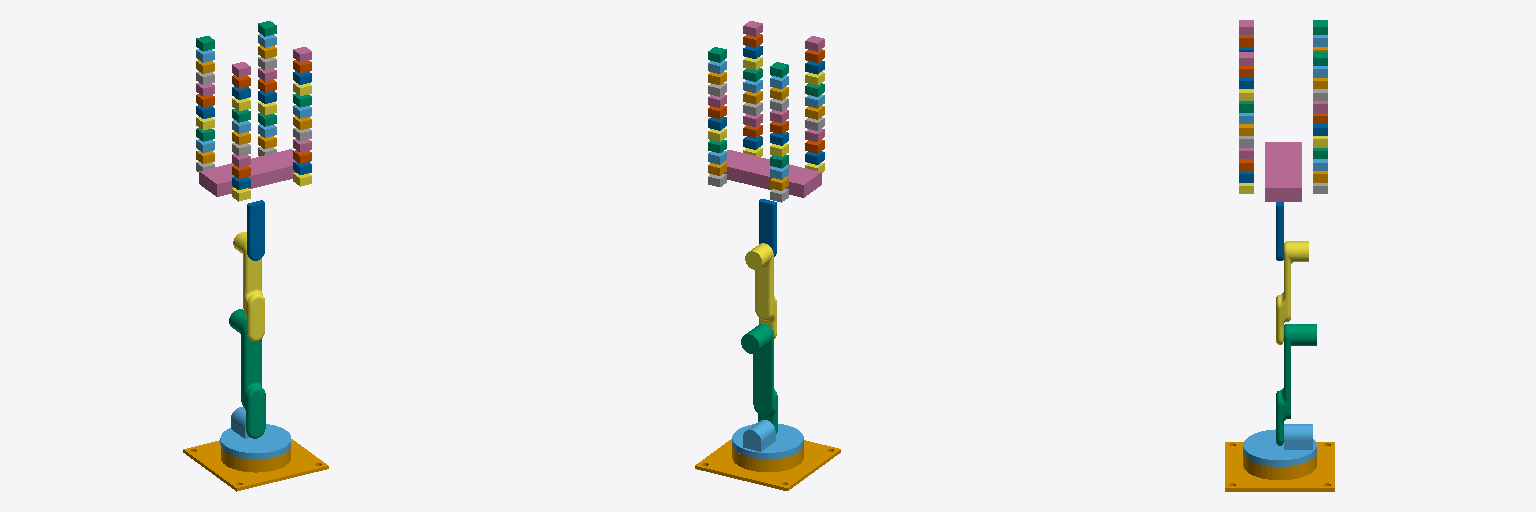
--- Facts derived from the render (not from the file) ---
3 views of the same robot in one strip: view 1: azimuth 30°, elevation 25°; view 2: azimuth 150°, elevation 25°; view 3: azimuth 270°, elevation 25° (orthographic).
Model Design with 55 links and 54 joints (51 revolute, 1 continuous, 2 fixed), rooted at world, posed every joint at zero.
Links seen in each view (by area): view 1: base_link, Link2_1, palm, Link1_1, Link3_1, Link4_1; view 2: base_link, Link2_1, palm, Link1_1, Link3_1, Link4_1; view 3: base_link, Link1_1, palm, Link2_1, Link3_1.
Boxes of the visible links, box(x1,y1,x2,y2) form: base_link: box(183, 439, 328, 491); Link2_1: box(229, 309, 265, 438); palm: box(199, 149, 295, 196); Link1_1: box(220, 407, 290, 459); Link3_1: box(233, 232, 264, 341); Link4_1: box(247, 200, 264, 260); base_link: box(695, 439, 840, 490); Link2_1: box(741, 324, 777, 433); palm: box(724, 150, 821, 197); Link1_1: box(732, 420, 803, 458); Link3_1: box(745, 243, 776, 338); Link4_1: box(759, 199, 776, 256); base_link: box(1225, 442, 1334, 491); Link1_1: box(1243, 424, 1316, 466); palm: box(1265, 142, 1301, 201); Link2_1: box(1276, 324, 1316, 445); Link3_1: box(1276, 241, 1308, 344).
Size in the robot's own frame: 0.15 by 0.15 by 0.6438 metres.
Meshes: 5 distinct files referenced, 5 mesh visuals loaded (5 binary STL).

URDF robot description (Design):
<?xml version="1.0" encoding="utf-8"?>
<!-- =================================================================================== -->
<!-- |    This document was autogenerated by xacro from [local-path]/catkin_ws/src/Soft-Arm-Main/urdf/output.xacro | -->
<!-- |    EDITING THIS FILE BY HAND IS NOT RECOMMENDED                                 | -->
<!-- =================================================================================== -->
<robot name="Design">
  <!--<xacro:include filename="$(find gripper_description)/urdf/materials.xacro" />-->
  <!--<xacro:include filename="$(find gripper_description)/urdf/Design.gazebo" />-->
  <!-- see https://secure.wikimedia.org/wikipedia/en/wiki/List_of_moment_of_inertia_tensors -->
  <!--<xacro:include filename="$(find version1_description)/urdf/materials.xacro" />
<xacro:include filename="$(find version1_description)/urdf/Design.gazebo" /> -->
  <transmission name="Rev1_tran">
    <type>transmission_interface/SimpleTransmission</type>
    <joint name="Rev1">
      <hardwareInterface>hardware_interface/EffortJointInterface</hardwareInterface>
    </joint>
    <actuator name="Rev1_actr">
      <mechanicalReduction>1</mechanicalReduction>
    </actuator>
  </transmission>
  <transmission name="Rev2_tran">
    <type>transmission_interface/SimpleTransmission</type>
    <joint name="Rev2">
      <hardwareInterface>hardware_interface/EffortJointInterface</hardwareInterface>
    </joint>
    <actuator name="Rev2_actr">
      <mechanicalReduction>1</mechanicalReduction>
    </actuator>
  </transmission>
  <transmission name="Rev3_tran">
    <type>transmission_interface/SimpleTransmission</type>
    <joint name="Rev3">
      <hardwareInterface>hardware_interface/EffortJointInterface</hardwareInterface>
    </joint>
    <actuator name="Rev3_actr">
      <mechanicalReduction>1</mechanicalReduction>
    </actuator>
  </transmission>
  <transmission name="Rev4_tran">
    <type>transmission_interface/SimpleTransmission</type>
    <joint name="Rev4">
      <hardwareInterface>hardware_interface/EffortJointInterface</hardwareInterface>
    </joint>
    <actuator name="Rev4_actr">
      <mechanicalReduction>1</mechanicalReduction>
    </actuator>
  </transmission>
  <!--  PROPERTIES  -->
  <!-- LINKS  -->
  <!--<xacro:include filename="$(find design2_description)/urdf/materials.xacro" />-->
  <!--<xacro:include filename="$(find design2_description)/urdf/design2.trans" />-->
  <!--<xacro:include filename="$(find design2_description)/urdf/design2.gazebo" />-->
  <link name="base_link">
    <inertial>
      <origin rpy="0 0 0" xyz="-3.054172551678278e-15 2.5451437930652316e-17 0.009826233848161996"/>
      <mass value="2.1038693653686527"/>
      <inertia ixx="0.002498" ixy="0.0" ixz="-0.0" iyy="0.002498" iyz="0.0" izz="0.004751"/>
    </inertial>
    <visual>
      <origin rpy="0 0 0" xyz="0 0 0"/>
      <geometry>
        <mesh filename="package://main_description/meshes/base_link.stl" scale="0.001 0.001 0.001"/>
      </geometry>
      <material name="silver"/>
    </visual>
    <collision>
      <origin rpy="0 0 0" xyz="0 0 0"/>
      <geometry>
        <mesh filename="package://main_description/meshes/base_link.stl" scale="0.001 0.001 0.001"/>
      </geometry>
    </collision>
  </link>
  <link name="Link1_1">
    <inertial>
      <origin rpy="0 0 0" xyz="-6.1328821587432384e-06 0.007231132282278709 0.010400791755463774"/>
      <mass value="0.8688143187550561"/>
      <inertia ixx="0.000613" ixy="0.0" ixz="0.0" iyy="0.000486" iyz="-8.3e-05" izz="0.000932"/>
    </inertial>
    <visual>
      <origin rpy="0 0 0" xyz="-0.0 -0.0 -0.025"/>
      <geometry>
        <mesh filename="package://main_description/meshes/Link1_1.stl" scale="0.001 0.001 0.001"/>
      </geometry>
      <material name="silver"/>
    </visual>
    <collision>
      <origin rpy="0 0 0" xyz="-0.0 -0.0 -0.025"/>
      <geometry>
        <mesh filename="package://main_description/meshes/Link1_1.stl" scale="0.001 0.001 0.001"/>
      </geometry>
    </collision>
  </link>
  <link name="Link2_1">
    <inertial>
      <origin rpy="0 0 0" xyz="-1.4589717024326475e-07 0.009220625083884316 0.09374198522195988"/>
      <mass value="0.6628237762897414"/>
      <inertia ixx="0.002038" ixy="0.0" ixz="0.0" iyy="0.001955" iyz="-0.000356" izz="0.000168"/>
    </inertial>
    <visual>
      <origin rpy="0 0 0" xyz="2.1e-05 -0.004903 -0.05"/>
      <geometry>
        <mesh filename="package://main_description/meshes/Link2_1.stl" scale="0.001 0.001 0.001"/>
      </geometry>
      <material name="silver"/>
    </visual>
    <collision>
      <origin rpy="0 0 0" xyz="2.1e-05 -0.004903 -0.05"/>
      <geometry>
        <mesh filename="package://main_description/meshes/Link2_1.stl" scale="0.001 0.001 0.001"/>
      </geometry>
    </collision>
  </link>
  <link name="Link3_1">
    <inertial>
      <origin rpy="0 0 0" xyz="1.9618427109714154e-05 0.006527757535011174 0.07498286609368165"/>
      <mass value="0.4910812167638009"/>
      <inertia ixx="0.001039" ixy="-0.0" ixz="-0.0" iyy="0.001007" iyz="-0.000178" izz="8.5e-05"/>
    </inertial>
    <visual>
      <origin rpy="0 0 0" xyz="2.1e-05 -0.004903 -0.2"/>
      <geometry>
        <mesh filename="package://main_description/meshes/Link3_1.stl" scale="0.001 0.001 0.001"/>
      </geometry>
      <material name="silver"/>
    </visual>
    <collision>
      <origin rpy="0 0 0" xyz="2.1e-05 -0.004903 -0.2"/>
      <geometry>
        <mesh filename="package://main_description/meshes/Link3_1.stl" scale="0.001 0.001 0.001"/>
      </geometry>
    </collision>
  </link>
  <link name="Link4_1">
    <inertial>
      <origin rpy="0 0 0" xyz="-1.842082955655732e-07 -0.004999749873264598 0.032486936025046875"/>
      <mass value="0.16819090005804693"/>
      <inertia ixx="0.000103" ixy="0.0" ixz="0.0" iyy="0.00011" iyz="0.0" izz="1e-05"/>
    </inertial>
    <visual>
      <origin rpy="0 0 0" xyz="-1.2e-05 -0.004903 -0.325"/>
      <geometry>
        <mesh filename="package://main_description/meshes/Link4_1.stl" scale="0.001 0.001 0.001"/>
      </geometry>
      <material name="silver"/>
    </visual>
    <collision>
      <origin rpy="0 0 0" xyz="-1.2e-05 -0.004903 -0.325"/>
      <geometry>
        <mesh filename="package://main_description/meshes/Link4_1.stl" scale="0.001 0.001 0.001"/>
      </geometry>
    </collision>
  </link>
  <!--  JOINTS  -->
  <joint name="world_joint" type="fixed">
    <axis xyz="0 0 1"/>
    <origin rpy="0 0 0" xyz="0.0 0.0 0.0"/>
    <parent link="world"/>
    <child link="base_link"/>
  </joint>
  <joint name="Rev1" type="continuous">
    <origin rpy="0 0 0" xyz="0.0 0.0 0.025"/>
    <parent link="base_link"/>
    <child link="Link1_1"/>
    <axis xyz="0.0 0.0 1.0"/>
    <limit effort="1000" lower="0.0" upper="6.283185" velocity="0.01"/>
    <dynamics damping="0" friction="0.0"/>
  </joint>
  <joint name="Rev2" type="revolute">
    <origin rpy="0 0 0" xyz="-2.1e-05 0.004903 0.025"/>
    <parent link="Link1_1"/>
    <child link="Link2_1"/>
    <axis xyz="0.0 -1.0 0.0"/>
    <limit effort="1000" lower="-1.396263" upper="1.396263" velocity="0.01"/>
    <dynamics damping="0" friction="0.0"/>
  </joint>
  <joint name="Rev3" type="revolute">
    <origin rpy="0 0 0" xyz="0.0 0.0 0.15"/>
    <parent link="Link2_1"/>
    <child link="Link3_1"/>
    <axis xyz="0.0 -1.0 0.0"/>
    <limit effort="1000" lower="-2.792527" upper="2.792527" velocity="0.01"/>
    <dynamics damping="0" friction="0.0"/>
  </joint>
  <joint name="Rev4" type="revolute">
    <origin rpy="0 0 0" xyz="3.3e-05 0.0 0.125"/>
    <parent link="Link3_1"/>
    <child link="Link4_1"/>
    <axis xyz="0.0 -1.0 0.0"/>
    <limit effort="1000" lower="-2.617994" upper="2.617994" velocity="0.01"/>
    <dynamics damping="0" friction="0.0"/>
  </joint>
  <link name="world"/>
  <link name="palm">
    <visual>
      <geometry>
        <box size="0.15 0.05 0.02"/>
      </geometry>
    </visual>
    <inertial>
      <mass value="0.1"/>
      <inertia ixx="0.001" ixy="0.001" ixz="0.001" iyy="0.001" iyz="0.001" izz="0.001"/>
    </inertial>
    <collision>
      <geometry>
        <box size="0.15 0.05 0.02"/>
      </geometry>
    </collision>
  </link>
  <gazebo reference="palm">
    <mu1>2000</mu1>
    <mu2>2000</mu2>
    <selfCollide>true</selfCollide>
    <gravity>true</gravity>
  </gazebo>
  <joint name="palm_arm_joint" type="fixed">
    <parent link="Link4_1"/>
    <child link="palm"/>
    <origin rpy="0 0 0" xyz="0.0 0 0.12"/>
  </joint>
  <gazebo>
    <plugin filename="libgazebo_ros_control.so" name="gazebo_ros_control">
      <robotNamespace/>
    </plugin>
  </gazebo>
  <!--  MACROS FOR FINGER: LT-->
  <link name="LTseg1">
    <visual>
      <geometry>
        <box size="0.02 0.02 0.0125"/>
      </geometry>
      <origin xyz="0 0 0"/>
      <material name="white"/>
    </visual>
    <inertial>
      <mass value="0.01"/>
      <origin rpy="0 0 0" xyz="0 0 0"/>
      <inertia ixx="4.6354148125e-07" ixy="0.0" ixz="0.0" iyy="4.6354148125e-07" iyz="0.0" izz="6.666664e-07"/>
    </inertial>
    <!--
		<inertial>
			<mass value="0.001"/>
			<inertia ixx="0.000000001" ixy="0.000000001" ixz="0.000000001" iyy="0.000000001" iyz="0.000000001" izz="0.000000001"/>
		</inertial>
		-->
    <collision>
      <geometry>
        <box size="0.02 0.02 0.0125"/>
      </geometry>
      <origin xyz="0 0 0"/>
    </collision>
  </link>
  <gazebo reference="LTseg1">
    <mu1>20000</mu1>
    <mu2>20000</mu2>
    <selfCollide>true</selfCollide>
    <gravity>true</gravity>
  </gazebo>
  <joint name="palm_LTseg1_joint" type="revolute">
    <axis xyz="1 0 0"/>
    <limit effort="1" lower="-0.1" upper="0.1" velocity="0.0001"/>
    <!--<dynamics damping="0.05" friction="0.0"/>-->
    <origin rpy="-0 0 0" xyz="0.05 0.05 0"/>
    <parent link="palm"/>
    <child link="LTseg1"/>
  </joint>
  <transmission name="palm_LTseg1_trans">
    <type>transmission_interface/SimpleTransmission</type>
    <actuator name="palm_LTseg1_motor">
      <mechanicalReduction>1</mechanicalReduction>
    </actuator>
    <joint name="palm_LTseg1_joint">
      <hardwareInterface>hardware_interface/EffortJointInterface</hardwareInterface>
    </joint>
  </transmission>
  <gazebo reference="palm_LTseg1_joint">
    <mu1 value="200.0"/>
    <mu2 value="100.0"/>
    <kp value="10000000.0"/>
    <kd value="1.0"/>
    <material>Gazebo/Grey</material>
  </gazebo>
  <link name="LTseg2">
    <visual>
      <geometry>
        <box size="0.02 0.02 0.0125"/>
      </geometry>
      <origin xyz="0 0 0"/>
      <material name="white"/>
    </visual>
    <inertial>
      <mass value="0.01"/>
      <origin rpy="0 0 0" xyz="0 0 0"/>
      <inertia ixx="4.6354148125e-07" ixy="0.0" ixz="0.0" iyy="4.6354148125e-07" iyz="0.0" izz="6.666664e-07"/>
    </inertial>
    <!--
		<inertial>
			<mass value="0.001"/>
			<inertia ixx="0.000000001" ixy="0.000000001" ixz="0.000000001" iyy="0.000000001" iyz="0.000000001" izz="0.000000001"/>
		</inertial>
		-->
    <collision>
      <geometry>
        <box size="0.02 0.02 0.0125"/>
      </geometry>
      <origin xyz="0 0 0"/>
    </collision>
  </link>
  <gazebo reference="LTseg2">
    <mu1>20000</mu1>
    <mu2>20000</mu2>
    <selfCollide>true</selfCollide>
    <gravity>true</gravity>
  </gazebo>
  <joint name="LTseg1_LTseg2_joint" type="revolute">
    <axis xyz="1 0 0"/>
    <limit effort="1" lower="-0.25" upper="0.25" velocity="0.001"/>
    <dynamics damping="0.05" friction="0.0"/>
    <origin rpy="0 0 0" xyz="0 0 0.0175"/>
    <parent link="LTseg1"/>
    <child link="LTseg2"/>
  </joint>
  <gazebo reference="LTseg1_LTseg2_joint">
    <implicitSpringDamper>True</implicitSpringDamper>
  </gazebo>
  <transmission name="LTseg1_LTseg2_trans">
    <type>transmission_interface/SimpleTransmission</type>
    <actuator name="LTseg1_LTseg2_motor">
      <mechanicalReduction>1</mechanicalReduction>
    </actuator>
    <joint name="LTseg1_LTseg2_joint">
      <hardwareInterface>hardware_interface/EffortJointInterface</hardwareInterface>
    </joint>
  </transmission>
  <gazebo reference="LTseg1_LTseg2_joint">
    <mu1 value="200.0"/>
    <mu2 value="100.0"/>
    <kp value="10000000.0"/>
    <kd value="1.0"/>
    <material>Gazebo/Grey</material>
  </gazebo>
  <link name="LTseg3">
    <visual>
      <geometry>
        <box size="0.02 0.02 0.0125"/>
      </geometry>
      <origin xyz="0 0 0"/>
      <material name="white"/>
    </visual>
    <inertial>
      <mass value="0.01"/>
      <origin rpy="0 0 0" xyz="0 0 0"/>
      <inertia ixx="4.6354148125e-07" ixy="0.0" ixz="0.0" iyy="4.6354148125e-07" iyz="0.0" izz="6.666664e-07"/>
    </inertial>
    <!--
		<inertial>
			<mass value="0.001"/>
			<inertia ixx="0.000000001" ixy="0.000000001" ixz="0.000000001" iyy="0.000000001" iyz="0.000000001" izz="0.000000001"/>
		</inertial>
		-->
    <collision>
      <geometry>
        <box size="0.02 0.02 0.0125"/>
      </geometry>
      <origin xyz="0 0 0"/>
    </collision>
  </link>
  <gazebo reference="LTseg3">
    <mu1>20000</mu1>
    <mu2>20000</mu2>
    <selfCollide>true</selfCollide>
    <gravity>true</gravity>
  </gazebo>
  <joint name="LTseg2_LTseg3_joint" type="revolute">
    <axis xyz="1 0 0"/>
    <limit effort="1" lower="-0.25" upper="0.25" velocity="0.001"/>
    <dynamics damping="0.05" friction="0.0"/>
    <origin rpy="0 0 0" xyz="0 0 0.0175"/>
    <parent link="LTseg2"/>
    <child link="LTseg3"/>
  </joint>
  <gazebo reference="LTseg2_LTseg3_joint">
    <implicitSpringDamper>True</implicitSpringDamper>
  </gazebo>
  <transmission name="LTseg2_LTseg3_trans">
    <type>transmission_interface/SimpleTransmission</type>
    <actuator name="LTseg2_LTseg3_motor">
      <mechanicalReduction>1</mechanicalReduction>
    </actuator>
    <joint name="LTseg2_LTseg3_joint">
      <hardwareInterface>hardware_interface/EffortJointInterface</hardwareInterface>
    </joint>
  </transmission>
  <gazebo reference="LTseg2_LTseg3_joint">
    <mu1 value="200.0"/>
    <mu2 value="100.0"/>
    <kp value="10000000.0"/>
    <kd value="1.0"/>
    <material>Gazebo/Grey</material>
  </gazebo>
  <link name="LTseg4">
    <visual>
      <geometry>
        <box size="0.02 0.02 0.0125"/>
      </geometry>
      <origin xyz="0 0 0"/>
      <material name="white"/>
    </visual>
    <inertial>
      <mass value="0.01"/>
      <origin rpy="0 0 0" xyz="0 0 0"/>
      <inertia ixx="4.6354148125e-07" ixy="0.0" ixz="0.0" iyy="4.6354148125e-07" iyz="0.0" izz="6.666664e-07"/>
    </inertial>
    <!--
		<inertial>
			<mass value="0.001"/>
			<inertia ixx="0.000000001" ixy="0.000000001" ixz="0.000000001" iyy="0.000000001" iyz="0.000000001" izz="0.000000001"/>
		</inertial>
		-->
    <collision>
      <geometry>
        <box size="0.02 0.02 0.0125"/>
      </geometry>
      <origin xyz="0 0 0"/>
    </collision>
  </link>
  <gazebo reference="LTseg4">
    <mu1>20000</mu1>
    <mu2>20000</mu2>
    <selfCollide>true</selfCollide>
    <gravity>true</gravity>
  </gazebo>
  <joint name="LTseg3_LTseg4_joint" type="revolute">
    <axis xyz="1 0 0"/>
    <limit effort="1" lower="-0.25" upper="0.25" velocity="0.001"/>
    <dynamics damping="0.05" friction="0.0"/>
    <origin rpy="0 0 0" xyz="0 0 0.0175"/>
    <parent link="LTseg3"/>
    <child link="LTseg4"/>
  </joint>
  <gazebo reference="LTseg3_LTseg4_joint">
    <implicitSpringDamper>True</implicitSpringDamper>
  </gazebo>
  <transmission name="LTseg3_LTseg4_trans">
    <type>transmission_interface/SimpleTransmission</type>
    <actuator name="LTseg3_LTseg4_motor">
      <mechanicalReduction>1</mechanicalReduction>
    </actuator>
    <joint name="LTseg3_LTseg4_joint">
      <hardwareInterface>hardware_interface/EffortJointInterface</hardwareInterface>
    </joint>
  </transmission>
  <gazebo reference="LTseg3_LTseg4_joint">
    <mu1 value="200.0"/>
    <mu2 value="100.0"/>
    <kp value="10000000.0"/>
    <kd value="1.0"/>
    <material>Gazebo/Grey</material>
  </gazebo>
  <link name="LTseg5">
    <visual>
      <geometry>
        <box size="0.02 0.02 0.0125"/>
      </geometry>
      <origin xyz="0 0 0"/>
      <material name="white"/>
    </visual>
    <inertial>
      <mass value="0.01"/>
      <origin rpy="0 0 0" xyz="0 0 0"/>
      <inertia ixx="4.6354148125e-07" ixy="0.0" ixz="0.0" iyy="4.6354148125e-07" iyz="0.0" izz="6.666664e-07"/>
    </inertial>
    <!--
		<inertial>
			<mass value="0.001"/>
			<inertia ixx="0.000000001" ixy="0.000000001" ixz="0.000000001" iyy="0.000000001" iyz="0.000000001" izz="0.000000001"/>
		</inertial>
		-->
    <collision>
      <geometry>
        <box size="0.02 0.02 0.0125"/>
      </geometry>
      <origin xyz="0 0 0"/>
    </collision>
  </link>
  <gazebo reference="LTseg5">
    <mu1>20000</mu1>
    <mu2>20000</mu2>
    <selfCollide>true</selfCollide>
    <gravity>true</gravity>
  </gazebo>
  <joint name="LTseg4_LTseg5_joint" type="revolute">
    <axis xyz="1 0 0"/>
    <limit effort="1" lower="-0.25" upper="0.25" velocity="0.001"/>
    <dynamics damping="0.05" friction="0.0"/>
    <origin rpy="0 0 0" xyz="0 0 0.0175"/>
    <parent link="LTseg4"/>
    <child link="LTseg5"/>
  </joint>
  <gazebo reference="LTseg4_LTseg5_joint">
    <implicitSpringDamper>True</implicitSpringDamper>
  </gazebo>
  <transmission name="LTseg4_LTseg5_trans">
    <type>transmission_interface/SimpleTransmission</type>
    <actuator name="LTseg4_LTseg5_motor">
      <mechanicalReduction>1</mechanicalReduction>
    </actuator>
    <joint name="LTseg4_LTseg5_joint">
      <hardwareInterface>hardware_interface/EffortJointInterface</hardwareInterface>
    </joint>
  </transmission>
  <gazebo reference="LTseg4_LTseg5_joint">
    <mu1 value="200.0"/>
    <mu2 value="100.0"/>
    <kp value="10000000.0"/>
    <kd value="1.0"/>
    <material>Gazebo/Grey</material>
  </gazebo>
  <link name="LTseg6">
    <visual>
      <geometry>
        <box size="0.02 0.02 0.0125"/>
      </geometry>
      <origin xyz="0 0 0"/>
      <material name="white"/>
    </visual>
    <inertial>
      <mass value="0.01"/>
      <origin rpy="0 0 0" xyz="0 0 0"/>
      <inertia ixx="4.6354148125e-07" ixy="0.0" ixz="0.0" iyy="4.6354148125e-07" iyz="0.0" izz="6.666664e-07"/>
    </inertial>
    <!--
		<inertial>
			<mass value="0.001"/>
			<inertia ixx="0.000000001" ixy="0.000000001" ixz="0.000000001" iyy="0.000000001" iyz="0.000000001" izz="0.000000001"/>
		</inertial>
		-->
    <collision>
      <geometry>
        <box size="0.02 0.02 0.0125"/>
      </geometry>
      <origin xyz="0 0 0"/>
    </collision>
  </link>
  <gazebo reference="LTseg6">
    <mu1>20000</mu1>
    <mu2>20000</mu2>
    <selfCollide>true</selfCollide>
    <gravity>true</gravity>
  </gazebo>
  <joint name="LTseg5_LTseg6_joint" type="revolute">
    <axis xyz="1 0 0"/>
    <limit effort="1" lower="-0.25" upper="0.25" velocity="0.001"/>
    <dynamics damping="0.05" friction="0.0"/>
    <origin rpy="0 0 0" xyz="0 0 0.0175"/>
    <parent link="LTseg5"/>
    <child link="LTseg6"/>
  </joint>
  <gazebo reference="LTseg5_LTseg6_joint">
    <implicitSpringDamper>True</implicitSpringDamper>
  </gazebo>
  <transmission name="LTseg5_LTseg6_trans">
    <type>transmission_interface/SimpleTransmission</type>
    <actuator name="LTseg5_LTseg6_motor">
      <mechanicalReduction>1</mechanicalReduction>
    </actuator>
    <joint name="LTseg5_LTseg6_joint">
      <hardwareInterface>hardware_interface/EffortJointInterface</hardwareInterface>
    </joint>
  </transmission>
  <gazebo reference="LTseg5_LTseg6_joint">
    <mu1 value="200.0"/>
    <mu2 value="100.0"/>
    <kp value="10000000.0"/>
    <kd value="1.0"/>
    <material>Gazebo/Grey</material>
  </gazebo>
  <link name="LTseg7">
    <visual>
      <geometry>
        <box size="0.02 0.02 0.0125"/>
      </geometry>
      <origin xyz="0 0 0"/>
      <material name="white"/>
    </visual>
    <inertial>
      <mass value="0.01"/>
      <origin rpy="0 0 0" xyz="0 0 0"/>
      <inertia ixx="4.6354148125e-07" ixy="0.0" ixz="0.0" iyy="4.6354148125e-07" iyz="0.0" izz="6.666664e-07"/>
    </inertial>
    <!--
		<inertial>
			<mass value="0.001"/>
			<inertia ixx="0.000000001" ixy="0.000000001" ixz="0.000000001" iyy="0.000000001" iyz="0.000000001" izz="0.000000001"/>
		</inertial>
		-->
    <collision>
      <geometry>
        <box size="0.02 0.02 0.0125"/>
      </geometry>
      <origin xyz="0 0 0"/>
    </collision>
  </link>
  <gazebo reference="LTseg7">
    <mu1>20000</mu1>
    <mu2>20000</mu2>
    <selfCollide>true</selfCollide>
    <gravity>true</gravity>
  </gazebo>
  <joint name="LTseg6_LTseg7_joint" type="revolute">
    <axis xyz="1 0 0"/>
    <limit effort="1" lower="-0.25" upper="0.25" velocity="0.001"/>
    <dynamics damping="0.05" friction="0.0"/>
    <origin rpy="0 0 0" xyz="0 0 0.0175"/>
    <parent link="LTseg6"/>
    <child link="LTseg7"/>
  </joint>
  <gazebo reference="LTseg6_LTseg7_joint">
    <implicitSpringDamper>True</implicitSpringDamper>
  </gazebo>
  <transmission name="LTseg6_LTseg7_trans">
    <type>transmission_interface/SimpleTransmission</type>
    <actuator name="LTseg6_LTseg7_motor">
      <mechanicalReduction>1</mechanicalReduction>
    </actuator>
    <joint name="LTseg6_LTseg7_joint">
      <hardwareInterface>hardware_interface/EffortJointInterface</hardwareInterface>
    </joint>
  </transmission>
  <gazebo reference="LTseg6_LTseg7_joint">
    <mu1 value="200.0"/>
    <mu2 value="100.0"/>
    <kp value="10000000.0"/>
    <kd value="1.0"/>
    <material>Gazebo/Grey</material>
  </gazebo>
  <link name="LTseg8">
    <visual>
      <geometry>
        <box size="0.02 0.02 0.0125"/>
      </geometry>
      <origin xyz="0 0 0"/>
      <material name="white"/>
    </visual>
    <inertial>
      <mass value="0.01"/>
      <origin rpy="0 0 0" xyz="0 0 0"/>
      <inertia ixx="4.6354148125e-07" ixy="0.0" ixz="0.0" iyy="4.6354148125e-07" iyz="0.0" izz="6.666664e-07"/>
    </inertial>
    <!--
		<inertial>
			<mass value="0.001"/>
			<inertia ixx="0.000000001" ixy="0.000000001" ixz="0.000000001" iyy="0.000000001" iyz="0.000000001" izz="0.000000001"/>
		</inertial>
		-->
    <collision>
      <geometry>
        <box size="0.02 0.02 0.0125"/>
      </geometry>
      <origin xyz="0 0 0"/>
    </collision>
  </link>
  <gazebo reference="LTseg8">
    <mu1>20000</mu1>
    <mu2>20000</mu2>
    <selfCollide>true</selfCollide>
    <gravity>true</gravity>
  </gazebo>
  <joint name="LTseg7_LTseg8_joint" type="revolute">
    <axis xyz="1 0 0"/>
    <limit effort="1" lower="-0.25" upper="0.25" velocity="0.001"/>
    <dynamics damping="0.05" friction="0.0"/>
    <origin rpy="0 0 0" xyz="0 0 0.0175"/>
    <parent link="LTseg7"/>
    <child link="LTseg8"/>
  </joint>
  <gazebo reference="LTseg7_LTseg8_joint">
    <implicitSpringDamper>True</implicitSpringDamper>
  </gazebo>
  <transmission name="LTseg7_LTseg8_trans">
    <type>transmission_interface/SimpleTransmission</type>
    <actuator name="LTseg7_LTseg8_motor">
      <mechanicalReduction>1</mechanicalReduction>
    </actuator>
    <joint name="LTseg7_LTseg8_joint">
      <hardwareInterface>hardware_interface/EffortJointInterface</hardwareInterface>
    </joint>
  </transmission>
  <gazebo reference="LTseg7_LTseg8_joint">
    <mu1 value="200.0"/>
    <mu2 value="100.0"/>
    <kp value="10000000.0"/>
    <kd value="1.0"/>
    <material>Gazebo/Grey</material>
  </gazebo>
  <link name="LTseg9">
    <visual>
      <geometry>
        <box size="0.02 0.02 0.0125"/>
      </geometry>
      <origin xyz="0 0 0"/>
      <material name="white"/>
    </visual>
    <inertial>
      <mass value="0.01"/>
      <origin rpy="0 0 0" xyz="0 0 0"/>
      <inertia ixx="4.6354148125e-07" ixy="0.0" ixz="0.0" iyy="4.6354148125e-07" iyz="0.0" izz="6.666664e-07"/>
    </inertial>
    <!--
		<inertial>
			<mass value="0.001"/>
			<inertia ixx="0.000000001" ixy="0.000000001" ixz="0.000000001" iyy="0.000000001" iyz="0.000000001" izz="0.000000001"/>
		</inertial>
		-->
    <collision>
      <geometry>
        <box size="0.02 0.02 0.0125"/>
      </geometry>
      <origin xyz="0 0 0"/>
    </collision>
  </link>
  <gazebo reference="LTseg9">
    <mu1>20000</mu1>
    <mu2>20000</mu2>
    <selfCollide>true</selfCollide>
    <gravity>true</gravity>
  </gazebo>
  <joint name="LTseg8_LTseg9_joint" type="revolute">
    <axis xyz="1 0 0"/>
    <limit effort="1" lower="-0.25" upper="0.25" velocity="0.001"/>
    <dynamics damping="0.05" friction="0.0"/>
    <origin rpy="0 0 0" xyz="0 0 0.0175"/>
    <parent link="LTseg8"/>
    <child link="LTseg9"/>
  </joint>
  <gazebo reference="LTseg8_LTseg9_joint">
    <implicitSpringDamper>True</implicitSpringDamper>
  </gazebo>
  <transmission name="LTseg8_LTseg9_trans">
    <type>transmission_interface/SimpleTransmission</type>
    <actuator name="LTseg8_LTseg9_motor">
      <mechanicalReduction>1</mechanicalReduction>
    </actuator>
    <joint name="LTseg8_LTseg9_joint">
      <hardwareInterface>hardware_interface/EffortJointInterface</hardwareInterface>
    </joint>
  </transmission>
  <gazebo reference="LTseg8_LTseg9_joint">
    <mu1 value="200.0"/>
    <mu2 value="100.0"/>
    <kp value="10000000.0"/>
    <kd value="1.0"/>
    <material>Gazebo/Grey</material>
  </gazebo>
  <link name="LTseg10">
    <visual>
      <geometry>
        <box size="0.02 0.02 0.0125"/>
      </geometry>
      <origin xyz="0 0 0"/>
      <material name="white"/>
    </visual>
    <inertial>
      <mass value="0.01"/>
      <origin rpy="0 0 0" xyz="0 0 0"/>
      <inertia ixx="4.6354148125e-07" ixy="0.0" ixz="0.0" iyy="4.6354148125e-07" iyz="0.0" izz="6.666664e-07"/>
    </inertial>
    <!--
		<inertial>
			<mass value="0.001"/>
			<inertia ixx="0.000000001" ixy="0.000000001" ixz="0.000000001" iyy="0.000000001" iyz="0.000000001" izz="0.000000001"/>
		</inertial>
		-->
    <collision>
      <geometry>
        <box size="0.02 0.02 0.0125"/>
      </geometry>
      <origin xyz="0 0 0"/>
    </collision>
  </link>
  <gazebo reference="LTseg10">
    <mu1>20000</mu1>
    <mu2>20000</mu2>
    <selfCollide>true</selfCollide>
    <gravity>true</gravity>
  </gazebo>
  <joint name="LTseg9_LTseg10_joint" type="revolute">
    <axis xyz="1 0 0"/>
    <limit effort="1" lower="-0.25" upper="0.25" velocity="0.001"/>
    <dynamics damping="0.05" friction="0.0"/>
    <origin rpy="0 0 0" xyz="0 0 0.0175"/>
    <parent link="LTseg9"/>
    <child link="LTseg10"/>
  </joint>
  <gazebo reference="LTseg9_LTseg10_joint">
    <implicitSpringDamper>True</implicitSpringDamper>
  </gazebo>
  <transmission name="LTseg9_LTseg10_trans">
    <type>transmission_interface/SimpleTransmission</type>
    <actuator name="LTseg9_LTseg10_motor">
      <mechanicalReduction>1</mechanicalReduction>
    </actuator>
    <joint name="LTseg9_LTseg10_joint">
      <hardwareInterface>hardware_interface/EffortJointInterface</hardwareInterface>
    </joint>
  </transmission>
  <gazebo reference="LTseg9_LTseg10_joint">
    <mu1 value="200.0"/>
    <mu2 value="100.0"/>
    <kp value="10000000.0"/>
    <kd value="1.0"/>
    <material>Gazebo/Grey</material>
  </gazebo>
  <link name="LTseg11">
    <visual>
      <geometry>
        <box size="0.02 0.02 0.0125"/>
      </geometry>
      <origin xyz="0 0 0"/>
      <material name="white"/>
    </visual>
    <inertial>
      <mass value="0.01"/>
      <origin rpy="0 0 0" xyz="0 0 0"/>
      <inertia ixx="4.6354148125e-07" ixy="0.0" ixz="0.0" iyy="4.6354148125e-07" iyz="0.0" izz="6.666664e-07"/>
    </inertial>
    <!--
		<inertial>
			<mass value="0.001"/>
			<inertia ixx="0.000000001" ixy="0.000000001" ixz="0.000000001" iyy="0.000000001" iyz="0.000000001" izz="0.000000001"/>
		</inertial>
		-->
    <collision>
      <geometry>
        <box size="0.02 0.02 0.0125"/>
      </geometry>
      <origin xyz="0 0 0"/>
    </collision>
  </link>
  <gazebo reference="LTseg11">
    <mu1>20000</mu1>
    <mu2>20000</mu2>
    <selfCollide>true</selfCollide>
    <gravity>true</gravity>
  </gazebo>
  <joint name="LTseg10_LTseg11_joint" type="revolute">
    <axis xyz="1 0 0"/>
    <limit effort="1" lower="-0.25" upper="0.25" velocity="0.001"/>
    <dynamics damping="0.05" friction="0.0"/>
    <origin rpy="0 0 0" xyz="0 0 0.0175"/>
    <parent link="LTseg10"/>
    <child link="LTseg11"/>
  </joint>
  <gazebo reference="LTseg10_LTseg11_joint">
    <implicitSpringDamper>True</implicitSpringDamper>
  </gazebo>
  <transmission name="LTseg10_LTseg11_trans">
    <type>transmission_interface/SimpleTransmission</type>
    <actuator name="LTseg10_LTseg11_motor">
      <mechanicalReduction>1</mechanicalReduction>
    </actuator>
    <joint name="LTseg10_LTseg11_joint">
      <hardwareInterface>hardware_interface/EffortJointInterface</hardwareInterface>
    </joint>
  </transmission>
  <gazebo reference="LTseg10_LTseg11_joint">
    <mu1 value="200.0"/>
    <mu2 value="100.0"/>
    <kp value="10000000.0"/>
    <kd value="1.0"/>
    <material>Gazebo/Grey</material>
  </gazebo>
  <link name="LTseg12">
    <visual>
      <geometry>
        <box size="0.02 0.02 0.0125"/>
      </geometry>
      <origin xyz="0 0 0"/>
      <material name="white"/>
    </visual>
    <inertial>
      <mass value="0.01"/>
      <origin rpy="0 0 0" xyz="0 0 0"/>
      <inertia ixx="4.6354148125e-07" ixy="0.0" ixz="0.0" iyy="4.6354148125e-07" iyz="0.0" izz="6.666664e-07"/>
    </inertial>
    <!--
		<inertial>
			<mass value="0.001"/>
			<inertia ixx="0.000000001" ixy="0.000000001" ixz="0.000000001" iyy="0.000000001" iyz="0.000000001" izz="0.000000001"/>
		</inertial>
		-->
    <collision>
      <geometry>
        <box size="0.02 0.02 0.0125"/>
      </geometry>
      <origin xyz="0 0 0"/>
    </collision>
  </link>
  <gazebo reference="LTseg12">
    <mu1>20000</mu1>
    <mu2>20000</mu2>
    <selfCollide>true</selfCollide>
    <gravity>true</gravity>
  </gazebo>
  <joint name="LTseg11_LTseg12_joint" type="revolute">
    <axis xyz="1 0 0"/>
    <limit effort="1" lower="-0.25" upper="0.25" velocity="0.001"/>
    <dynamics damping="0.05" friction="0.0"/>
    <origin rpy="0 0 0" xyz="0 0 0.0175"/>
    <parent link="LTseg11"/>
    <child link="LTseg12"/>
  </joint>
  <gazebo reference="LTseg11_LTseg12_joint">
    <implicitSpringDamper>True</implicitSpringDamper>
  </gazebo>
  <transmission name="LTseg11_LTseg12_trans">
    <type>transmission_interface/SimpleTransmission</type>
    <actuator name="LTseg11_LTseg12_motor">
      <mechanicalReduction>1</mechanicalReduction>
    </actuator>
    <joint name="LTseg11_LTseg12_joint">
      <hardwareInterface>hardware_interface/EffortJointInterface</hardwareInterface>
    </joint>
  </transmission>
  <gazebo reference="LTseg11_LTseg12_joint">
    <mu1 value="200.0"/>
    <mu2 value="100.0"/>
    <kp value="10000000.0"/>
    <kd value="1.0"/>
    <material>Gazebo/Grey</material>
  </gazebo>
  <!--  MACROS FOR FINGER: RT-->
  <link name="RTseg1">
    <visual>
      <geometry>
        <box size="0.02 0.02 0.0125"/>
      </geometry>
      <origin xyz="0 0 0"/>
      <material name="white"/>
    </visual>
    <inertial>
      <mass value="0.01"/>
      <origin rpy="0 0 0" xyz="0 0 0"/>
      <inertia ixx="4.6354148125e-07" ixy="0.0" ixz="0.0" iyy="4.6354148125e-07" iyz="0.0" izz="6.666664e-07"/>
    </inertial>
    <!--
		<inertial>
			<mass value="0.001"/>
			<inertia ixx="0.000000001" ixy="0.000000001" ixz="0.000000001" iyy="0.000000001" iyz="0.000000001" izz="0.000000001"/>
		</inertial>
		-->
    <collision>
      <geometry>
        <box size="0.02 0.02 0.0125"/>
      </geometry>
      <origin xyz="0 0 0"/>
    </collision>
  </link>
  <gazebo reference="RTseg1">
    <mu1>20000</mu1>
    <mu2>20000</mu2>
    <selfCollide>true</selfCollide>
    <gravity>true</gravity>
  </gazebo>
  <joint name="palm_RTseg1_joint" type="revolute">
    <axis xyz="1 0 0"/>
    <limit effort="1" lower="-0.1" upper="0.1" velocity="0.0001"/>
    <!--<dynamics damping="0.05" friction="0.0"/>-->
    <origin rpy="-0 0 3.14159" xyz="0.05 -0.05 0"/>
    <parent link="palm"/>
    <child link="RTseg1"/>
  </joint>
  <transmission name="palm_RTseg1_trans">
    <type>transmission_interface/SimpleTransmission</type>
    <actuator name="palm_RTseg1_motor">
      <mechanicalReduction>1</mechanicalReduction>
    </actuator>
    <joint name="palm_RTseg1_joint">
      <hardwareInterface>hardware_interface/EffortJointInterface</hardwareInterface>
    </joint>
  </transmission>
  <gazebo reference="palm_RTseg1_joint">
    <mu1 value="200.0"/>
    <mu2 value="100.0"/>
    <kp value="10000000.0"/>
    <kd value="1.0"/>
    <material>Gazebo/Grey</material>
  </gazebo>
  <link name="RTseg2">
    <visual>
      <geometry>
        <box size="0.02 0.02 0.0125"/>
      </geometry>
      <origin xyz="0 0 0"/>
      <material name="white"/>
    </visual>
    <inertial>
      <mass value="0.01"/>
      <origin rpy="0 0 0" xyz="0 0 0"/>
      <inertia ixx="4.6354148125e-07" ixy="0.0" ixz="0.0" iyy="4.6354148125e-07" iyz="0.0" izz="6.666664e-07"/>
    </inertial>
    <!--
		<inertial>
			<mass value="0.001"/>
			<inertia ixx="0.000000001" ixy="0.000000001" ixz="0.000000001" iyy="0.000000001" iyz="0.000000001" izz="0.000000001"/>
		</inertial>
		-->
    <collision>
      <geometry>
        <box size="0.02 0.02 0.0125"/>
      </geometry>
      <origin xyz="0 0 0"/>
    </collision>
  </link>
  <gazebo reference="RTseg2">
    <mu1>20000</mu1>
    <mu2>20000</mu2>
    <selfCollide>true</selfCollide>
    <gravity>true</gravity>
  </gazebo>
  <joint name="RTseg1_RTseg2_joint" type="revolute">
    <axis xyz="1 0 0"/>
    <limit effort="1" lower="-0.25" upper="0.25" velocity="0.001"/>
    <dynamics damping="0.05" friction="0.0"/>
    <origin rpy="0 0 0" xyz="0 0 0.0175"/>
    <parent link="RTseg1"/>
    <child link="RTseg2"/>
  </joint>
  <gazebo reference="RTseg1_RTseg2_joint">
    <implicitSpringDamper>True</implicitSpringDamper>
  </gazebo>
  <transmission name="RTseg1_RTseg2_trans">
    <type>transmission_interface/SimpleTransmission</type>
    <actuator name="RTseg1_RTseg2_motor">
      <mechanicalReduction>1</mechanicalReduction>
    </actuator>
    <joint name="RTseg1_RTseg2_joint">
      <hardwareInterface>hardware_interface/EffortJointInterface</hardwareInterface>
    </joint>
  </transmission>
  <gazebo reference="RTseg1_RTseg2_joint">
    <mu1 value="200.0"/>
    <mu2 value="100.0"/>
    <kp value="10000000.0"/>
    <kd value="1.0"/>
    <material>Gazebo/Grey</material>
  </gazebo>
  <link name="RTseg3">
    <visual>
      <geometry>
        <box size="0.02 0.02 0.0125"/>
      </geometry>
      <origin xyz="0 0 0"/>
      <material name="white"/>
    </visual>
    <inertial>
      <mass value="0.01"/>
      <origin rpy="0 0 0" xyz="0 0 0"/>
      <inertia ixx="4.6354148125e-07" ixy="0.0" ixz="0.0" iyy="4.6354148125e-07" iyz="0.0" izz="6.666664e-07"/>
    </inertial>
    <!--
		<inertial>
			<mass value="0.001"/>
			<inertia ixx="0.000000001" ixy="0.000000001" ixz="0.000000001" iyy="0.000000001" iyz="0.000000001" izz="0.000000001"/>
		</inertial>
		-->
    <collision>
      <geometry>
        <box size="0.02 0.02 0.0125"/>
      </geometry>
      <origin xyz="0 0 0"/>
    </collision>
  </link>
  <gazebo reference="RTseg3">
    <mu1>20000</mu1>
    <mu2>20000</mu2>
    <selfCollide>true</selfCollide>
    <gravity>true</gravity>
  </gazebo>
  <joint name="RTseg2_RTseg3_joint" type="revolute">
    <axis xyz="1 0 0"/>
    <limit effort="1" lower="-0.25" upper="0.25" velocity="0.001"/>
    <dynamics damping="0.05" friction="0.0"/>
    <origin rpy="0 0 0" xyz="0 0 0.0175"/>
    <parent link="RTseg2"/>
    <child link="RTseg3"/>
  </joint>
  <gazebo reference="RTseg2_RTseg3_joint">
    <implicitSpringDamper>True</implicitSpringDamper>
  </gazebo>
  <transmission name="RTseg2_RTseg3_trans">
    <type>transmission_interface/SimpleTransmission</type>
    <actuator name="RTseg2_RTseg3_motor">
      <mechanicalReduction>1</mechanicalReduction>
    </actuator>
    <joint name="RTseg2_RTseg3_joint">
      <hardwareInterface>hardware_interface/EffortJointInterface</hardwareInterface>
    </joint>
  </transmission>
  <gazebo reference="RTseg2_RTseg3_joint">
    <mu1 value="200.0"/>
    <mu2 value="100.0"/>
    <kp value="10000000.0"/>
    <kd value="1.0"/>
    <material>Gazebo/Grey</material>
  </gazebo>
  <link name="RTseg4">
    <visual>
      <geometry>
        <box size="0.02 0.02 0.0125"/>
      </geometry>
      <origin xyz="0 0 0"/>
      <material name="white"/>
    </visual>
    <inertial>
      <mass value="0.01"/>
      <origin rpy="0 0 0" xyz="0 0 0"/>
      <inertia ixx="4.6354148125e-07" ixy="0.0" ixz="0.0" iyy="4.6354148125e-07" iyz="0.0" izz="6.666664e-07"/>
    </inertial>
    <!--
		<inertial>
			<mass value="0.001"/>
			<inertia ixx="0.000000001" ixy="0.000000001" ixz="0.000000001" iyy="0.000000001" iyz="0.000000001" izz="0.000000001"/>
		</inertial>
		-->
    <collision>
      <geometry>
        <box size="0.02 0.02 0.0125"/>
      </geometry>
      <origin xyz="0 0 0"/>
    </collision>
  </link>
  <gazebo reference="RTseg4">
    <mu1>20000</mu1>
    <mu2>20000</mu2>
    <selfCollide>true</selfCollide>
    <gravity>true</gravity>
  </gazebo>
  <joint name="RTseg3_RTseg4_joint" type="revolute">
    <axis xyz="1 0 0"/>
    <limit effort="1" lower="-0.25" upper="0.25" velocity="0.001"/>
    <dynamics damping="0.05" friction="0.0"/>
    <origin rpy="0 0 0" xyz="0 0 0.0175"/>
    <parent link="RTseg3"/>
    <child link="RTseg4"/>
  </joint>
  <gazebo reference="RTseg3_RTseg4_joint">
    <implicitSpringDamper>True</implicitSpringDamper>
  </gazebo>
  <transmission name="RTseg3_RTseg4_trans">
    <type>transmission_interface/SimpleTransmission</type>
    <actuator name="RTseg3_RTseg4_motor">
      <mechanicalReduction>1</mechanicalReduction>
    </actuator>
    <joint name="RTseg3_RTseg4_joint">
      <hardwareInterface>hardware_interface/EffortJointInterface</hardwareInterface>
    </joint>
  </transmission>
  <gazebo reference="RTseg3_RTseg4_joint">
    <mu1 value="200.0"/>
    <mu2 value="100.0"/>
    <kp value="10000000.0"/>
    <kd value="1.0"/>
    <material>Gazebo/Grey</material>
  </gazebo>
  <link name="RTseg5">
    <visual>
      <geometry>
        <box size="0.02 0.02 0.0125"/>
      </geometry>
      <origin xyz="0 0 0"/>
      <material name="white"/>
    </visual>
    <inertial>
      <mass value="0.01"/>
      <origin rpy="0 0 0" xyz="0 0 0"/>
      <inertia ixx="4.6354148125e-07" ixy="0.0" ixz="0.0" iyy="4.6354148125e-07" iyz="0.0" izz="6.666664e-07"/>
    </inertial>
    <!--
		<inertial>
			<mass value="0.001"/>
			<inertia ixx="0.000000001" ixy="0.000000001" ixz="0.000000001" iyy="0.000000001" iyz="0.000000001" izz="0.000000001"/>
		</inertial>
		-->
    <collision>
      <geometry>
        <box size="0.02 0.02 0.0125"/>
      </geometry>
      <origin xyz="0 0 0"/>
    </collision>
  </link>
  <gazebo reference="RTseg5">
    <mu1>20000</mu1>
    <mu2>20000</mu2>
    <selfCollide>true</selfCollide>
    <gravity>true</gravity>
  </gazebo>
  <joint name="RTseg4_RTseg5_joint" type="revolute">
    <axis xyz="1 0 0"/>
    <limit effort="1" lower="-0.25" upper="0.25" velocity="0.001"/>
    <dynamics damping="0.05" friction="0.0"/>
    <origin rpy="0 0 0" xyz="0 0 0.0175"/>
    <parent link="RTseg4"/>
    <child link="RTseg5"/>
  </joint>
  <gazebo reference="RTseg4_RTseg5_joint">
    <implicitSpringDamper>True</implicitSpringDamper>
  </gazebo>
  <transmission name="RTseg4_RTseg5_trans">
    <type>transmission_interface/SimpleTransmission</type>
    <actuator name="RTseg4_RTseg5_motor">
      <mechanicalReduction>1</mechanicalReduction>
    </actuator>
    <joint name="RTseg4_RTseg5_joint">
      <hardwareInterface>hardware_interface/EffortJointInterface</hardwareInterface>
    </joint>
  </transmission>
  <gazebo reference="RTseg4_RTseg5_joint">
    <mu1 value="200.0"/>
    <mu2 value="100.0"/>
    <kp value="10000000.0"/>
    <kd value="1.0"/>
    <material>Gazebo/Grey</material>
  </gazebo>
  <link name="RTseg6">
    <visual>
      <geometry>
        <box size="0.02 0.02 0.0125"/>
      </geometry>
      <origin xyz="0 0 0"/>
      <material name="white"/>
    </visual>
    <inertial>
      <mass value="0.01"/>
      <origin rpy="0 0 0" xyz="0 0 0"/>
      <inertia ixx="4.6354148125e-07" ixy="0.0" ixz="0.0" iyy="4.6354148125e-07" iyz="0.0" izz="6.666664e-07"/>
    </inertial>
    <!--
		<inertial>
			<mass value="0.001"/>
			<inertia ixx="0.000000001" ixy="0.000000001" ixz="0.000000001" iyy="0.000000001" iyz="0.000000001" izz="0.000000001"/>
		</inertial>
		-->
    <collision>
      <geometry>
        <box size="0.02 0.02 0.0125"/>
      </geometry>
      <origin xyz="0 0 0"/>
    </collision>
  </link>
  <gazebo reference="RTseg6">
    <mu1>20000</mu1>
    <mu2>20000</mu2>
    <selfCollide>true</selfCollide>
    <gravity>true</gravity>
  </gazebo>
  <joint name="RTseg5_RTseg6_joint" type="revolute">
    <axis xyz="1 0 0"/>
    <limit effort="1" lower="-0.25" upper="0.25" velocity="0.001"/>
    <dynamics damping="0.05" friction="0.0"/>
    <origin rpy="0 0 0" xyz="0 0 0.0175"/>
    <parent link="RTseg5"/>
    <child link="RTseg6"/>
  </joint>
  <gazebo reference="RTseg5_RTseg6_joint">
    <implicitSpringDamper>True</implicitSpringDamper>
  </gazebo>
  <transmission name="RTseg5_RTseg6_trans">
    <type>transmission_interface/SimpleTransmission</type>
    <actuator name="RTseg5_RTseg6_motor">
      <mechanicalReduction>1</mechanicalReduction>
    </actuator>
    <joint name="RTseg5_RTseg6_joint">
      <hardwareInterface>hardware_interface/EffortJointInterface</hardwareInterface>
    </joint>
  </transmission>
  <gazebo reference="RTseg5_RTseg6_joint">
    <mu1 value="200.0"/>
    <mu2 value="100.0"/>
    <kp value="10000000.0"/>
    <kd value="1.0"/>
    <material>Gazebo/Grey</material>
  </gazebo>
  <link name="RTseg7">
    <visual>
      <geometry>
        <box size="0.02 0.02 0.0125"/>
      </geometry>
      <origin xyz="0 0 0"/>
      <material name="white"/>
    </visual>
    <inertial>
      <mass value="0.01"/>
      <origin rpy="0 0 0" xyz="0 0 0"/>
      <inertia ixx="4.6354148125e-07" ixy="0.0" ixz="0.0" iyy="4.6354148125e-07" iyz="0.0" izz="6.666664e-07"/>
    </inertial>
    <!--
		<inertial>
			<mass value="0.001"/>
			<inertia ixx="0.000000001" ixy="0.000000001" ixz="0.000000001" iyy="0.000000001" iyz="0.000000001" izz="0.000000001"/>
		</inertial>
		-->
    <collision>
      <geometry>
        <box size="0.02 0.02 0.0125"/>
      </geometry>
      <origin xyz="0 0 0"/>
    </collision>
  </link>
  <gazebo reference="RTseg7">
    <mu1>20000</mu1>
    <mu2>20000</mu2>
    <selfCollide>true</selfCollide>
    <gravity>true</gravity>
  </gazebo>
  <joint name="RTseg6_RTseg7_joint" type="revolute">
    <axis xyz="1 0 0"/>
    <limit effort="1" lower="-0.25" upper="0.25" velocity="0.001"/>
    <dynamics damping="0.05" friction="0.0"/>
    <origin rpy="0 0 0" xyz="0 0 0.0175"/>
    <parent link="RTseg6"/>
    <child link="RTseg7"/>
  </joint>
  <gazebo reference="RTseg6_RTseg7_joint">
    <implicitSpringDamper>True</implicitSpringDamper>
  </gazebo>
  <transmission name="RTseg6_RTseg7_trans">
    <type>transmission_interface/SimpleTransmission</type>
    <actuator name="RTseg6_RTseg7_motor">
      <mechanicalReduction>1</mechanicalReduction>
    </actuator>
    <joint name="RTseg6_RTseg7_joint">
      <hardwareInterface>hardware_interface/EffortJointInterface</hardwareInterface>
    </joint>
  </transmission>
  <gazebo reference="RTseg6_RTseg7_joint">
    <mu1 value="200.0"/>
    <mu2 value="100.0"/>
    <kp value="10000000.0"/>
    <kd value="1.0"/>
    <material>Gazebo/Grey</material>
  </gazebo>
  <link name="RTseg8">
    <visual>
      <geometry>
        <box size="0.02 0.02 0.0125"/>
      </geometry>
      <origin xyz="0 0 0"/>
      <material name="white"/>
    </visual>
    <inertial>
      <mass value="0.01"/>
      <origin rpy="0 0 0" xyz="0 0 0"/>
      <inertia ixx="4.6354148125e-07" ixy="0.0" ixz="0.0" iyy="4.6354148125e-07" iyz="0.0" izz="6.666664e-07"/>
    </inertial>
    <!--
		<inertial>
			<mass value="0.001"/>
			<inertia ixx="0.000000001" ixy="0.000000001" ixz="0.000000001" iyy="0.000000001" iyz="0.000000001" izz="0.000000001"/>
		</inertial>
		-->
    <collision>
      <geometry>
        <box size="0.02 0.02 0.0125"/>
      </geometry>
      <origin xyz="0 0 0"/>
    </collision>
  </link>
  <gazebo reference="RTseg8">
    <mu1>20000</mu1>
    <mu2>20000</mu2>
    <selfCollide>true</selfCollide>
    <gravity>true</gravity>
  </gazebo>
  <joint name="RTseg7_RTseg8_joint" type="revolute">
    <axis xyz="1 0 0"/>
    <limit effort="1" lower="-0.25" upper="0.25" velocity="0.001"/>
    <dynamics damping="0.05" friction="0.0"/>
    <origin rpy="0 0 0" xyz="0 0 0.0175"/>
    <parent link="RTseg7"/>
    <child link="RTseg8"/>
  </joint>
  <gazebo reference="RTseg7_RTseg8_joint">
    <implicitSpringDamper>True</implicitSpringDamper>
  </gazebo>
  <transmission name="RTseg7_RTseg8_trans">
    <type>transmission_interface/SimpleTransmission</type>
    <actuator name="RTseg7_RTseg8_motor">
      <mechanicalReduction>1</mechanicalReduction>
    </actuator>
    <joint name="RTseg7_RTseg8_joint">
      <hardwareInterface>hardware_interface/EffortJointInterface</hardwareInterface>
    </joint>
  </transmission>
  <gazebo reference="RTseg7_RTseg8_joint">
    <mu1 value="200.0"/>
    <mu2 value="100.0"/>
    <kp value="10000000.0"/>
    <kd value="1.0"/>
    <material>Gazebo/Grey</material>
  </gazebo>
  <link name="RTseg9">
    <visual>
      <geometry>
        <box size="0.02 0.02 0.0125"/>
      </geometry>
      <origin xyz="0 0 0"/>
      <material name="white"/>
    </visual>
    <inertial>
      <mass value="0.01"/>
      <origin rpy="0 0 0" xyz="0 0 0"/>
      <inertia ixx="4.6354148125e-07" ixy="0.0" ixz="0.0" iyy="4.6354148125e-07" iyz="0.0" izz="6.666664e-07"/>
    </inertial>
    <!--
		<inertial>
			<mass value="0.001"/>
			<inertia ixx="0.000000001" ixy="0.000000001" ixz="0.000000001" iyy="0.000000001" iyz="0.000000001" izz="0.000000001"/>
		</inertial>
		-->
    <collision>
      <geometry>
        <box size="0.02 0.02 0.0125"/>
      </geometry>
      <origin xyz="0 0 0"/>
    </collision>
  </link>
  <gazebo reference="RTseg9">
    <mu1>20000</mu1>
    <mu2>20000</mu2>
    <selfCollide>true</selfCollide>
    <gravity>true</gravity>
  </gazebo>
  <joint name="RTseg8_RTseg9_joint" type="revolute">
    <axis xyz="1 0 0"/>
    <limit effort="1" lower="-0.25" upper="0.25" velocity="0.001"/>
    <dynamics damping="0.05" friction="0.0"/>
    <origin rpy="0 0 0" xyz="0 0 0.0175"/>
    <parent link="RTseg8"/>
    <child link="RTseg9"/>
  </joint>
  <gazebo reference="RTseg8_RTseg9_joint">
    <implicitSpringDamper>True</implicitSpringDamper>
  </gazebo>
  <transmission name="RTseg8_RTseg9_trans">
    <type>transmission_interface/SimpleTransmission</type>
    <actuator name="RTseg8_RTseg9_motor">
      <mechanicalReduction>1</mechanicalReduction>
    </actuator>
    <joint name="RTseg8_RTseg9_joint">
      <hardwareInterface>hardware_interface/EffortJointInterface</hardwareInterface>
    </joint>
  </transmission>
  <gazebo reference="RTseg8_RTseg9_joint">
    <mu1 value="200.0"/>
    <mu2 value="100.0"/>
    <kp value="10000000.0"/>
    <kd value="1.0"/>
    <material>Gazebo/Grey</material>
  </gazebo>
  <link name="RTseg10">
    <visual>
      <geometry>
        <box size="0.02 0.02 0.0125"/>
      </geometry>
      <origin xyz="0 0 0"/>
      <material name="white"/>
    </visual>
    <inertial>
      <mass value="0.01"/>
      <origin rpy="0 0 0" xyz="0 0 0"/>
      <inertia ixx="4.6354148125e-07" ixy="0.0" ixz="0.0" iyy="4.6354148125e-07" iyz="0.0" izz="6.666664e-07"/>
    </inertial>
    <!--
		<inertial>
			<mass value="0.001"/>
			<inertia ixx="0.000000001" ixy="0.000000001" ixz="0.000000001" iyy="0.000000001" iyz="0.000000001" izz="0.000000001"/>
		</inertial>
		-->
    <collision>
      <geometry>
        <box size="0.02 0.02 0.0125"/>
      </geometry>
      <origin xyz="0 0 0"/>
    </collision>
  </link>
  <gazebo reference="RTseg10">
    <mu1>20000</mu1>
    <mu2>20000</mu2>
    <selfCollide>true</selfCollide>
    <gravity>true</gravity>
  </gazebo>
  <joint name="RTseg9_RTseg10_joint" type="revolute">
    <axis xyz="1 0 0"/>
    <limit effort="1" lower="-0.25" upper="0.25" velocity="0.001"/>
    <dynamics damping="0.05" friction="0.0"/>
    <origin rpy="0 0 0" xyz="0 0 0.0175"/>
    <parent link="RTseg9"/>
    <child link="RTseg10"/>
  </joint>
  <gazebo reference="RTseg9_RTseg10_joint">
    <implicitSpringDamper>True</implicitSpringDamper>
  </gazebo>
  <transmission name="RTseg9_RTseg10_trans">
    <type>transmission_interface/SimpleTransmission</type>
    <actuator name="RTseg9_RTseg10_motor">
      <mechanicalReduction>1</mechanicalReduction>
    </actuator>
    <joint name="RTseg9_RTseg10_joint">
      <hardwareInterface>hardware_interface/EffortJointInterface</hardwareInterface>
    </joint>
  </transmission>
  <gazebo reference="RTseg9_RTseg10_joint">
    <mu1 value="200.0"/>
    <mu2 value="100.0"/>
    <kp value="10000000.0"/>
    <kd value="1.0"/>
    <material>Gazebo/Grey</material>
  </gazebo>
  <link name="RTseg11">
    <visual>
      <geometry>
        <box size="0.02 0.02 0.0125"/>
      </geometry>
      <origin xyz="0 0 0"/>
      <material name="white"/>
    </visual>
    <inertial>
      <mass value="0.01"/>
      <origin rpy="0 0 0" xyz="0 0 0"/>
      <inertia ixx="4.6354148125e-07" ixy="0.0" ixz="0.0" iyy="4.6354148125e-07" iyz="0.0" izz="6.666664e-07"/>
    </inertial>
    <!--
		<inertial>
			<mass value="0.001"/>
			<inertia ixx="0.000000001" ixy="0.000000001" ixz="0.000000001" iyy="0.000000001" iyz="0.000000001" izz="0.000000001"/>
		</inertial>
		-->
    <collision>
      <geometry>
        <box size="0.02 0.02 0.0125"/>
      </geometry>
      <origin xyz="0 0 0"/>
    </collision>
  </link>
  <gazebo reference="RTseg11">
    <mu1>20000</mu1>
    <mu2>20000</mu2>
    <selfCollide>true</selfCollide>
    <gravity>true</gravity>
  </gazebo>
  <joint name="RTseg10_RTseg11_joint" type="revolute">
    <axis xyz="1 0 0"/>
    <limit effort="1" lower="-0.25" upper="0.25" velocity="0.001"/>
    <dynamics damping="0.05" friction="0.0"/>
    <origin rpy="0 0 0" xyz="0 0 0.0175"/>
    <parent link="RTseg10"/>
    <child link="RTseg11"/>
  </joint>
  <gazebo reference="RTseg10_RTseg11_joint">
    <implicitSpringDamper>True</implicitSpringDamper>
  </gazebo>
  <transmission name="RTseg10_RTseg11_trans">
    <type>transmission_interface/SimpleTransmission</type>
    <actuator name="RTseg10_RTseg11_motor">
      <mechanicalReduction>1</mechanicalReduction>
    </actuator>
    <joint name="RTseg10_RTseg11_joint">
      <hardwareInterface>hardware_interface/EffortJointInterface</hardwareInterface>
    </joint>
  </transmission>
  <gazebo reference="RTseg10_RTseg11_joint">
    <mu1 value="200.0"/>
    <mu2 value="100.0"/>
    <kp value="10000000.0"/>
    <kd value="1.0"/>
    <material>Gazebo/Grey</material>
  </gazebo>
  <link name="RTseg12">
    <visual>
      <geometry>
        <box size="0.02 0.02 0.0125"/>
      </geometry>
      <origin xyz="0 0 0"/>
      <material name="white"/>
    </visual>
    <inertial>
      <mass value="0.01"/>
      <origin rpy="0 0 0" xyz="0 0 0"/>
      <inertia ixx="4.6354148125e-07" ixy="0.0" ixz="0.0" iyy="4.6354148125e-07" iyz="0.0" izz="6.666664e-07"/>
    </inertial>
    <!--
		<inertial>
			<mass value="0.001"/>
			<inertia ixx="0.000000001" ixy="0.000000001" ixz="0.000000001" iyy="0.000000001" iyz="0.000000001" izz="0.000000001"/>
		</inertial>
		-->
    <collision>
      <geometry>
        <box size="0.02 0.02 0.0125"/>
      </geometry>
      <origin xyz="0 0 0"/>
    </collision>
  </link>
  <gazebo reference="RTseg12">
    <mu1>20000</mu1>
    <mu2>20000</mu2>
    <selfCollide>true</selfCollide>
    <gravity>true</gravity>
  </gazebo>
  <joint name="RTseg11_RTseg12_joint" type="revolute">
    <axis xyz="1 0 0"/>
    <limit effort="1" lower="-0.25" upper="0.25" velocity="0.001"/>
    <dynamics damping="0.05" friction="0.0"/>
    <origin rpy="0 0 0" xyz="0 0 0.0175"/>
    <parent link="RTseg11"/>
    <child link="RTseg12"/>
  </joint>
  <gazebo reference="RTseg11_RTseg12_joint">
    <implicitSpringDamper>True</implicitSpringDamper>
  </gazebo>
  <transmission name="RTseg11_RTseg12_trans">
    <type>transmission_interface/SimpleTransmission</type>
    <actuator name="RTseg11_RTseg12_motor">
      <mechanicalReduction>1</mechanicalReduction>
    </actuator>
    <joint name="RTseg11_RTseg12_joint">
      <hardwareInterface>hardware_interface/EffortJointInterface</hardwareInterface>
    </joint>
  </transmission>
  <gazebo reference="RTseg11_RTseg12_joint">
    <mu1 value="200.0"/>
    <mu2 value="100.0"/>
    <kp value="10000000.0"/>
    <kd value="1.0"/>
    <material>Gazebo/Grey</material>
  </gazebo>
  <!--  MACROS FOR FINGER: LB-->
  <link name="LBseg1">
    <visual>
      <geometry>
        <box size="0.02 0.02 0.0125"/>
      </geometry>
      <origin xyz="0 0 0"/>
      <material name="white"/>
    </visual>
    <inertial>
      <mass value="0.01"/>
      <origin rpy="0 0 0" xyz="0 0 0"/>
      <inertia ixx="4.6354148125e-07" ixy="0.0" ixz="0.0" iyy="4.6354148125e-07" iyz="0.0" izz="6.666664e-07"/>
    </inertial>
    <!--
		<inertial>
			<mass value="0.001"/>
			<inertia ixx="0.000000001" ixy="0.000000001" ixz="0.000000001" iyy="0.000000001" iyz="0.000000001" izz="0.000000001"/>
		</inertial>
		-->
    <collision>
      <geometry>
        <box size="0.02 0.02 0.0125"/>
      </geometry>
      <origin xyz="0 0 0"/>
    </collision>
  </link>
  <gazebo reference="LBseg1">
    <mu1>20000</mu1>
    <mu2>20000</mu2>
    <selfCollide>true</selfCollide>
    <gravity>true</gravity>
  </gazebo>
  <joint name="palm_LBseg1_joint" type="revolute">
    <axis xyz="1 0 0"/>
    <limit effort="1" lower="-0.1" upper="0.1" velocity="0.0001"/>
    <!--<dynamics damping="0.05" friction="0.0"/>-->
    <origin rpy="-0 0 0" xyz="-0.05 0.05 0"/>
    <parent link="palm"/>
    <child link="LBseg1"/>
  </joint>
  <transmission name="palm_LBseg1_trans">
    <type>transmission_interface/SimpleTransmission</type>
    <actuator name="palm_LBseg1_motor">
      <mechanicalReduction>1</mechanicalReduction>
    </actuator>
    <joint name="palm_LBseg1_joint">
      <hardwareInterface>hardware_interface/EffortJointInterface</hardwareInterface>
    </joint>
  </transmission>
  <gazebo reference="palm_LBseg1_joint">
    <mu1 value="200.0"/>
    <mu2 value="100.0"/>
    <kp value="10000000.0"/>
    <kd value="1.0"/>
    <material>Gazebo/Grey</material>
  </gazebo>
  <link name="LBseg2">
    <visual>
      <geometry>
        <box size="0.02 0.02 0.0125"/>
      </geometry>
      <origin xyz="0 0 0"/>
      <material name="white"/>
    </visual>
    <inertial>
      <mass value="0.01"/>
      <origin rpy="0 0 0" xyz="0 0 0"/>
      <inertia ixx="4.6354148125e-07" ixy="0.0" ixz="0.0" iyy="4.6354148125e-07" iyz="0.0" izz="6.666664e-07"/>
    </inertial>
    <!--
		<inertial>
			<mass value="0.001"/>
			<inertia ixx="0.000000001" ixy="0.000000001" ixz="0.000000001" iyy="0.000000001" iyz="0.000000001" izz="0.000000001"/>
		</inertial>
		-->
    <collision>
      <geometry>
        <box size="0.02 0.02 0.0125"/>
      </geometry>
      <origin xyz="0 0 0"/>
    </collision>
  </link>
  <gazebo reference="LBseg2">
    <mu1>20000</mu1>
    <mu2>20000</mu2>
    <selfCollide>true</selfCollide>
    <gravity>true</gravity>
  </gazebo>
  <joint name="LBseg1_LBseg2_joint" type="revolute">
    <axis xyz="1 0 0"/>
    <limit effort="1" lower="-0.25" upper="0.25" velocity="0.001"/>
    <dynamics damping="0.05" friction="0.0"/>
    <origin rpy="0 0 0" xyz="0 0 0.0175"/>
    <parent link="LBseg1"/>
    <child link="LBseg2"/>
  </joint>
  <gazebo reference="LBseg1_LBseg2_joint">
    <implicitSpringDamper>True</implicitSpringDamper>
  </gazebo>
  <transmission name="LBseg1_LBseg2_trans">
    <type>transmission_interface/SimpleTransmission</type>
    <actuator name="LBseg1_LBseg2_motor">
      <mechanicalReduction>1</mechanicalReduction>
    </actuator>
    <joint name="LBseg1_LBseg2_joint">
      <hardwareInterface>hardware_interface/EffortJointInterface</hardwareInterface>
    </joint>
  </transmission>
  <gazebo reference="LBseg1_LBseg2_joint">
    <mu1 value="200.0"/>
    <mu2 value="100.0"/>
    <kp value="10000000.0"/>
    <kd value="1.0"/>
    <material>Gazebo/Grey</material>
  </gazebo>
  <link name="LBseg3">
    <visual>
      <geometry>
        <box size="0.02 0.02 0.0125"/>
      </geometry>
      <origin xyz="0 0 0"/>
      <material name="white"/>
    </visual>
    <inertial>
      <mass value="0.01"/>
      <origin rpy="0 0 0" xyz="0 0 0"/>
      <inertia ixx="4.6354148125e-07" ixy="0.0" ixz="0.0" iyy="4.6354148125e-07" iyz="0.0" izz="6.666664e-07"/>
    </inertial>
    <!--
		<inertial>
			<mass value="0.001"/>
			<inertia ixx="0.000000001" ixy="0.000000001" ixz="0.000000001" iyy="0.000000001" iyz="0.000000001" izz="0.000000001"/>
		</inertial>
		-->
    <collision>
      <geometry>
        <box size="0.02 0.02 0.0125"/>
      </geometry>
      <origin xyz="0 0 0"/>
    </collision>
  </link>
  <gazebo reference="LBseg3">
    <mu1>20000</mu1>
    <mu2>20000</mu2>
    <selfCollide>true</selfCollide>
    <gravity>true</gravity>
  </gazebo>
  <joint name="LBseg2_LBseg3_joint" type="revolute">
    <axis xyz="1 0 0"/>
    <limit effort="1" lower="-0.25" upper="0.25" velocity="0.001"/>
    <dynamics damping="0.05" friction="0.0"/>
    <origin rpy="0 0 0" xyz="0 0 0.0175"/>
    <parent link="LBseg2"/>
    <child link="LBseg3"/>
  </joint>
  <gazebo reference="LBseg2_LBseg3_joint">
    <implicitSpringDamper>True</implicitSpringDamper>
  </gazebo>
  <transmission name="LBseg2_LBseg3_trans">
    <type>transmission_interface/SimpleTransmission</type>
    <actuator name="LBseg2_LBseg3_motor">
      <mechanicalReduction>1</mechanicalReduction>
    </actuator>
    <joint name="LBseg2_LBseg3_joint">
      <hardwareInterface>hardware_interface/EffortJointInterface</hardwareInterface>
    </joint>
  </transmission>
  <gazebo reference="LBseg2_LBseg3_joint">
    <mu1 value="200.0"/>
    <mu2 value="100.0"/>
    <kp value="10000000.0"/>
    <kd value="1.0"/>
    <material>Gazebo/Grey</material>
  </gazebo>
  <link name="LBseg4">
    <visual>
      <geometry>
        <box size="0.02 0.02 0.0125"/>
      </geometry>
      <origin xyz="0 0 0"/>
      <material name="white"/>
    </visual>
    <inertial>
      <mass value="0.01"/>
      <origin rpy="0 0 0" xyz="0 0 0"/>
      <inertia ixx="4.6354148125e-07" ixy="0.0" ixz="0.0" iyy="4.6354148125e-07" iyz="0.0" izz="6.666664e-07"/>
    </inertial>
    <!--
		<inertial>
			<mass value="0.001"/>
			<inertia ixx="0.000000001" ixy="0.000000001" ixz="0.000000001" iyy="0.000000001" iyz="0.000000001" izz="0.000000001"/>
		</inertial>
		-->
    <collision>
      <geometry>
        <box size="0.02 0.02 0.0125"/>
      </geometry>
      <origin xyz="0 0 0"/>
    </collision>
  </link>
  <gazebo reference="LBseg4">
    <mu1>20000</mu1>
    <mu2>20000</mu2>
    <selfCollide>true</selfCollide>
    <gravity>true</gravity>
  </gazebo>
  <joint name="LBseg3_LBseg4_joint" type="revolute">
    <axis xyz="1 0 0"/>
    <limit effort="1" lower="-0.25" upper="0.25" velocity="0.001"/>
    <dynamics damping="0.05" friction="0.0"/>
    <origin rpy="0 0 0" xyz="0 0 0.0175"/>
    <parent link="LBseg3"/>
    <child link="LBseg4"/>
  </joint>
  <gazebo reference="LBseg3_LBseg4_joint">
    <implicitSpringDamper>True</implicitSpringDamper>
  </gazebo>
  <transmission name="LBseg3_LBseg4_trans">
    <type>transmission_interface/SimpleTransmission</type>
    <actuator name="LBseg3_LBseg4_motor">
      <mechanicalReduction>1</mechanicalReduction>
    </actuator>
    <joint name="LBseg3_LBseg4_joint">
      <hardwareInterface>hardware_interface/EffortJointInterface</hardwareInterface>
    </joint>
  </transmission>
  <gazebo reference="LBseg3_LBseg4_joint">
    <mu1 value="200.0"/>
    <mu2 value="100.0"/>
    <kp value="10000000.0"/>
    <kd value="1.0"/>
    <material>Gazebo/Grey</material>
  </gazebo>
  <link name="LBseg5">
    <visual>
      <geometry>
        <box size="0.02 0.02 0.0125"/>
      </geometry>
      <origin xyz="0 0 0"/>
      <material name="white"/>
    </visual>
    <inertial>
      <mass value="0.01"/>
      <origin rpy="0 0 0" xyz="0 0 0"/>
      <inertia ixx="4.6354148125e-07" ixy="0.0" ixz="0.0" iyy="4.6354148125e-07" iyz="0.0" izz="6.666664e-07"/>
    </inertial>
    <!--
		<inertial>
			<mass value="0.001"/>
			<inertia ixx="0.000000001" ixy="0.000000001" ixz="0.000000001" iyy="0.000000001" iyz="0.000000001" izz="0.000000001"/>
		</inertial>
		-->
    <collision>
      <geometry>
        <box size="0.02 0.02 0.0125"/>
      </geometry>
      <origin xyz="0 0 0"/>
    </collision>
  </link>
  <gazebo reference="LBseg5">
    <mu1>20000</mu1>
    <mu2>20000</mu2>
    <selfCollide>true</selfCollide>
    <gravity>true</gravity>
  </gazebo>
  <joint name="LBseg4_LBseg5_joint" type="revolute">
    <axis xyz="1 0 0"/>
    <limit effort="1" lower="-0.25" upper="0.25" velocity="0.001"/>
    <dynamics damping="0.05" friction="0.0"/>
    <origin rpy="0 0 0" xyz="0 0 0.0175"/>
    <parent link="LBseg4"/>
    <child link="LBseg5"/>
  </joint>
  <gazebo reference="LBseg4_LBseg5_joint">
    <implicitSpringDamper>True</implicitSpringDamper>
  </gazebo>
  <transmission name="LBseg4_LBseg5_trans">
    <type>transmission_interface/SimpleTransmission</type>
    <actuator name="LBseg4_LBseg5_motor">
      <mechanicalReduction>1</mechanicalReduction>
    </actuator>
    <joint name="LBseg4_LBseg5_joint">
      <hardwareInterface>hardware_interface/EffortJointInterface</hardwareInterface>
    </joint>
  </transmission>
  <gazebo reference="LBseg4_LBseg5_joint">
    <mu1 value="200.0"/>
    <mu2 value="100.0"/>
    <kp value="10000000.0"/>
    <kd value="1.0"/>
    <material>Gazebo/Grey</material>
  </gazebo>
  <link name="LBseg6">
    <visual>
      <geometry>
        <box size="0.02 0.02 0.0125"/>
      </geometry>
      <origin xyz="0 0 0"/>
      <material name="white"/>
    </visual>
    <inertial>
      <mass value="0.01"/>
      <origin rpy="0 0 0" xyz="0 0 0"/>
      <inertia ixx="4.6354148125e-07" ixy="0.0" ixz="0.0" iyy="4.6354148125e-07" iyz="0.0" izz="6.666664e-07"/>
    </inertial>
    <!--
		<inertial>
			<mass value="0.001"/>
			<inertia ixx="0.000000001" ixy="0.000000001" ixz="0.000000001" iyy="0.000000001" iyz="0.000000001" izz="0.000000001"/>
		</inertial>
		-->
    <collision>
      <geometry>
        <box size="0.02 0.02 0.0125"/>
      </geometry>
      <origin xyz="0 0 0"/>
    </collision>
  </link>
  <gazebo reference="LBseg6">
    <mu1>20000</mu1>
    <mu2>20000</mu2>
    <selfCollide>true</selfCollide>
    <gravity>true</gravity>
  </gazebo>
  <joint name="LBseg5_LBseg6_joint" type="revolute">
    <axis xyz="1 0 0"/>
    <limit effort="1" lower="-0.25" upper="0.25" velocity="0.001"/>
    <dynamics damping="0.05" friction="0.0"/>
    <origin rpy="0 0 0" xyz="0 0 0.0175"/>
    <parent link="LBseg5"/>
    <child link="LBseg6"/>
  </joint>
  <gazebo reference="LBseg5_LBseg6_joint">
    <implicitSpringDamper>True</implicitSpringDamper>
  </gazebo>
  <transmission name="LBseg5_LBseg6_trans">
    <type>transmission_interface/SimpleTransmission</type>
    <actuator name="LBseg5_LBseg6_motor">
      <mechanicalReduction>1</mechanicalReduction>
    </actuator>
    <joint name="LBseg5_LBseg6_joint">
      <hardwareInterface>hardware_interface/EffortJointInterface</hardwareInterface>
    </joint>
  </transmission>
  <gazebo reference="LBseg5_LBseg6_joint">
    <mu1 value="200.0"/>
    <mu2 value="100.0"/>
    <kp value="10000000.0"/>
    <kd value="1.0"/>
    <material>Gazebo/Grey</material>
  </gazebo>
  <link name="LBseg7">
    <visual>
      <geometry>
        <box size="0.02 0.02 0.0125"/>
      </geometry>
      <origin xyz="0 0 0"/>
      <material name="white"/>
    </visual>
    <inertial>
      <mass value="0.01"/>
      <origin rpy="0 0 0" xyz="0 0 0"/>
      <inertia ixx="4.6354148125e-07" ixy="0.0" ixz="0.0" iyy="4.6354148125e-07" iyz="0.0" izz="6.666664e-07"/>
    </inertial>
    <!--
		<inertial>
			<mass value="0.001"/>
			<inertia ixx="0.000000001" ixy="0.000000001" ixz="0.000000001" iyy="0.000000001" iyz="0.000000001" izz="0.000000001"/>
		</inertial>
		-->
    <collision>
      <geometry>
        <box size="0.02 0.02 0.0125"/>
      </geometry>
      <origin xyz="0 0 0"/>
    </collision>
  </link>
  <gazebo reference="LBseg7">
    <mu1>20000</mu1>
    <mu2>20000</mu2>
    <selfCollide>true</selfCollide>
    <gravity>true</gravity>
  </gazebo>
  <joint name="LBseg6_LBseg7_joint" type="revolute">
    <axis xyz="1 0 0"/>
    <limit effort="1" lower="-0.25" upper="0.25" velocity="0.001"/>
    <dynamics damping="0.05" friction="0.0"/>
    <origin rpy="0 0 0" xyz="0 0 0.0175"/>
    <parent link="LBseg6"/>
    <child link="LBseg7"/>
  </joint>
  <gazebo reference="LBseg6_LBseg7_joint">
    <implicitSpringDamper>True</implicitSpringDamper>
  </gazebo>
  <transmission name="LBseg6_LBseg7_trans">
    <type>transmission_interface/SimpleTransmission</type>
    <actuator name="LBseg6_LBseg7_motor">
      <mechanicalReduction>1</mechanicalReduction>
    </actuator>
    <joint name="LBseg6_LBseg7_joint">
      <hardwareInterface>hardware_interface/EffortJointInterface</hardwareInterface>
    </joint>
  </transmission>
  <gazebo reference="LBseg6_LBseg7_joint">
    <mu1 value="200.0"/>
    <mu2 value="100.0"/>
    <kp value="10000000.0"/>
    <kd value="1.0"/>
    <material>Gazebo/Grey</material>
  </gazebo>
  <link name="LBseg8">
    <visual>
      <geometry>
        <box size="0.02 0.02 0.0125"/>
      </geometry>
      <origin xyz="0 0 0"/>
      <material name="white"/>
    </visual>
    <inertial>
      <mass value="0.01"/>
      <origin rpy="0 0 0" xyz="0 0 0"/>
      <inertia ixx="4.6354148125e-07" ixy="0.0" ixz="0.0" iyy="4.6354148125e-07" iyz="0.0" izz="6.666664e-07"/>
    </inertial>
    <!--
		<inertial>
			<mass value="0.001"/>
			<inertia ixx="0.000000001" ixy="0.000000001" ixz="0.000000001" iyy="0.000000001" iyz="0.000000001" izz="0.000000001"/>
		</inertial>
		-->
    <collision>
      <geometry>
        <box size="0.02 0.02 0.0125"/>
      </geometry>
      <origin xyz="0 0 0"/>
    </collision>
  </link>
  <gazebo reference="LBseg8">
    <mu1>20000</mu1>
    <mu2>20000</mu2>
    <selfCollide>true</selfCollide>
    <gravity>true</gravity>
  </gazebo>
  <joint name="LBseg7_LBseg8_joint" type="revolute">
    <axis xyz="1 0 0"/>
    <limit effort="1" lower="-0.25" upper="0.25" velocity="0.001"/>
    <dynamics damping="0.05" friction="0.0"/>
    <origin rpy="0 0 0" xyz="0 0 0.0175"/>
    <parent link="LBseg7"/>
    <child link="LBseg8"/>
  </joint>
  <gazebo reference="LBseg7_LBseg8_joint">
    <implicitSpringDamper>True</implicitSpringDamper>
  </gazebo>
  <transmission name="LBseg7_LBseg8_trans">
    <type>transmission_interface/SimpleTransmission</type>
    <actuator name="LBseg7_LBseg8_motor">
      <mechanicalReduction>1</mechanicalReduction>
    </actuator>
    <joint name="LBseg7_LBseg8_joint">
      <hardwareInterface>hardware_interface/EffortJointInterface</hardwareInterface>
    </joint>
  </transmission>
  <gazebo reference="LBseg7_LBseg8_joint">
    <mu1 value="200.0"/>
    <mu2 value="100.0"/>
    <kp value="10000000.0"/>
    <kd value="1.0"/>
    <material>Gazebo/Grey</material>
  </gazebo>
  <link name="LBseg9">
    <visual>
      <geometry>
        <box size="0.02 0.02 0.0125"/>
      </geometry>
      <origin xyz="0 0 0"/>
      <material name="white"/>
    </visual>
    <inertial>
      <mass value="0.01"/>
      <origin rpy="0 0 0" xyz="0 0 0"/>
      <inertia ixx="4.6354148125e-07" ixy="0.0" ixz="0.0" iyy="4.6354148125e-07" iyz="0.0" izz="6.666664e-07"/>
    </inertial>
    <!--
		<inertial>
			<mass value="0.001"/>
			<inertia ixx="0.000000001" ixy="0.000000001" ixz="0.000000001" iyy="0.000000001" iyz="0.000000001" izz="0.000000001"/>
		</inertial>
		-->
    <collision>
      <geometry>
        <box size="0.02 0.02 0.0125"/>
      </geometry>
      <origin xyz="0 0 0"/>
    </collision>
  </link>
  <gazebo reference="LBseg9">
    <mu1>20000</mu1>
    <mu2>20000</mu2>
    <selfCollide>true</selfCollide>
    <gravity>true</gravity>
  </gazebo>
  <joint name="LBseg8_LBseg9_joint" type="revolute">
    <axis xyz="1 0 0"/>
    <limit effort="1" lower="-0.25" upper="0.25" velocity="0.001"/>
    <dynamics damping="0.05" friction="0.0"/>
    <origin rpy="0 0 0" xyz="0 0 0.0175"/>
    <parent link="LBseg8"/>
    <child link="LBseg9"/>
  </joint>
  <gazebo reference="LBseg8_LBseg9_joint">
    <implicitSpringDamper>True</implicitSpringDamper>
  </gazebo>
  <transmission name="LBseg8_LBseg9_trans">
    <type>transmission_interface/SimpleTransmission</type>
    <actuator name="LBseg8_LBseg9_motor">
      <mechanicalReduction>1</mechanicalReduction>
    </actuator>
    <joint name="LBseg8_LBseg9_joint">
      <hardwareInterface>hardware_interface/EffortJointInterface</hardwareInterface>
    </joint>
  </transmission>
  <gazebo reference="LBseg8_LBseg9_joint">
    <mu1 value="200.0"/>
    <mu2 value="100.0"/>
    <kp value="10000000.0"/>
    <kd value="1.0"/>
    <material>Gazebo/Grey</material>
  </gazebo>
  <link name="LBseg10">
    <visual>
      <geometry>
        <box size="0.02 0.02 0.0125"/>
      </geometry>
      <origin xyz="0 0 0"/>
      <material name="white"/>
    </visual>
    <inertial>
      <mass value="0.01"/>
      <origin rpy="0 0 0" xyz="0 0 0"/>
      <inertia ixx="4.6354148125e-07" ixy="0.0" ixz="0.0" iyy="4.6354148125e-07" iyz="0.0" izz="6.666664e-07"/>
    </inertial>
    <!--
		<inertial>
			<mass value="0.001"/>
			<inertia ixx="0.000000001" ixy="0.000000001" ixz="0.000000001" iyy="0.000000001" iyz="0.000000001" izz="0.000000001"/>
		</inertial>
		-->
    <collision>
      <geometry>
        <box size="0.02 0.02 0.0125"/>
      </geometry>
      <origin xyz="0 0 0"/>
    </collision>
  </link>
  <gazebo reference="LBseg10">
    <mu1>20000</mu1>
    <mu2>20000</mu2>
    <selfCollide>true</selfCollide>
    <gravity>true</gravity>
  </gazebo>
  <joint name="LBseg9_LBseg10_joint" type="revolute">
    <axis xyz="1 0 0"/>
    <limit effort="1" lower="-0.25" upper="0.25" velocity="0.001"/>
    <dynamics damping="0.05" friction="0.0"/>
    <origin rpy="0 0 0" xyz="0 0 0.0175"/>
    <parent link="LBseg9"/>
    <child link="LBseg10"/>
  </joint>
  <gazebo reference="LBseg9_LBseg10_joint">
    <implicitSpringDamper>True</implicitSpringDamper>
  </gazebo>
  <transmission name="LBseg9_LBseg10_trans">
    <type>transmission_interface/SimpleTransmission</type>
    <actuator name="LBseg9_LBseg10_motor">
      <mechanicalReduction>1</mechanicalReduction>
    </actuator>
    <joint name="LBseg9_LBseg10_joint">
      <hardwareInterface>hardware_interface/EffortJointInterface</hardwareInterface>
    </joint>
  </transmission>
  <gazebo reference="LBseg9_LBseg10_joint">
    <mu1 value="200.0"/>
    <mu2 value="100.0"/>
    <kp value="10000000.0"/>
    <kd value="1.0"/>
    <material>Gazebo/Grey</material>
  </gazebo>
  <link name="LBseg11">
    <visual>
      <geometry>
        <box size="0.02 0.02 0.0125"/>
      </geometry>
      <origin xyz="0 0 0"/>
      <material name="white"/>
    </visual>
    <inertial>
      <mass value="0.01"/>
      <origin rpy="0 0 0" xyz="0 0 0"/>
      <inertia ixx="4.6354148125e-07" ixy="0.0" ixz="0.0" iyy="4.6354148125e-07" iyz="0.0" izz="6.666664e-07"/>
    </inertial>
    <!--
		<inertial>
			<mass value="0.001"/>
			<inertia ixx="0.000000001" ixy="0.000000001" ixz="0.000000001" iyy="0.000000001" iyz="0.000000001" izz="0.000000001"/>
		</inertial>
		-->
    <collision>
      <geometry>
        <box size="0.02 0.02 0.0125"/>
      </geometry>
      <origin xyz="0 0 0"/>
    </collision>
  </link>
  <gazebo reference="LBseg11">
    <mu1>20000</mu1>
    <mu2>20000</mu2>
    <selfCollide>true</selfCollide>
    <gravity>true</gravity>
  </gazebo>
  <joint name="LBseg10_LBseg11_joint" type="revolute">
    <axis xyz="1 0 0"/>
    <limit effort="1" lower="-0.25" upper="0.25" velocity="0.001"/>
    <dynamics damping="0.05" friction="0.0"/>
    <origin rpy="0 0 0" xyz="0 0 0.0175"/>
    <parent link="LBseg10"/>
    <child link="LBseg11"/>
  </joint>
  <gazebo reference="LBseg10_LBseg11_joint">
    <implicitSpringDamper>True</implicitSpringDamper>
  </gazebo>
  <transmission name="LBseg10_LBseg11_trans">
    <type>transmission_interface/SimpleTransmission</type>
    <actuator name="LBseg10_LBseg11_motor">
      <mechanicalReduction>1</mechanicalReduction>
    </actuator>
    <joint name="LBseg10_LBseg11_joint">
      <hardwareInterface>hardware_interface/EffortJointInterface</hardwareInterface>
    </joint>
  </transmission>
  <gazebo reference="LBseg10_LBseg11_joint">
    <mu1 value="200.0"/>
    <mu2 value="100.0"/>
    <kp value="10000000.0"/>
    <kd value="1.0"/>
    <material>Gazebo/Grey</material>
  </gazebo>
  <link name="LBseg12">
    <visual>
      <geometry>
        <box size="0.02 0.02 0.0125"/>
      </geometry>
      <origin xyz="0 0 0"/>
      <material name="white"/>
    </visual>
    <inertial>
      <mass value="0.01"/>
      <origin rpy="0 0 0" xyz="0 0 0"/>
      <inertia ixx="4.6354148125e-07" ixy="0.0" ixz="0.0" iyy="4.6354148125e-07" iyz="0.0" izz="6.666664e-07"/>
    </inertial>
    <!--
		<inertial>
			<mass value="0.001"/>
			<inertia ixx="0.000000001" ixy="0.000000001" ixz="0.000000001" iyy="0.000000001" iyz="0.000000001" izz="0.000000001"/>
		</inertial>
		-->
    <collision>
      <geometry>
        <box size="0.02 0.02 0.0125"/>
      </geometry>
      <origin xyz="0 0 0"/>
    </collision>
  </link>
  <gazebo reference="LBseg12">
    <mu1>20000</mu1>
    <mu2>20000</mu2>
    <selfCollide>true</selfCollide>
    <gravity>true</gravity>
  </gazebo>
  <joint name="LBseg11_LBseg12_joint" type="revolute">
    <axis xyz="1 0 0"/>
    <limit effort="1" lower="-0.25" upper="0.25" velocity="0.001"/>
    <dynamics damping="0.05" friction="0.0"/>
    <origin rpy="0 0 0" xyz="0 0 0.0175"/>
    <parent link="LBseg11"/>
    <child link="LBseg12"/>
  </joint>
  <gazebo reference="LBseg11_LBseg12_joint">
    <implicitSpringDamper>True</implicitSpringDamper>
  </gazebo>
  <transmission name="LBseg11_LBseg12_trans">
    <type>transmission_interface/SimpleTransmission</type>
    <actuator name="LBseg11_LBseg12_motor">
      <mechanicalReduction>1</mechanicalReduction>
    </actuator>
    <joint name="LBseg11_LBseg12_joint">
      <hardwareInterface>hardware_interface/EffortJointInterface</hardwareInterface>
    </joint>
  </transmission>
  <gazebo reference="LBseg11_LBseg12_joint">
    <mu1 value="200.0"/>
    <mu2 value="100.0"/>
    <kp value="10000000.0"/>
    <kd value="1.0"/>
    <material>Gazebo/Grey</material>
  </gazebo>
  <!--  MACROS FOR FINGER: RB-->
  <link name="RBseg1">
    <visual>
      <geometry>
        <box size="0.02 0.02 0.0125"/>
      </geometry>
      <origin xyz="0 0 0"/>
      <material name="white"/>
    </visual>
    <inertial>
      <mass value="0.01"/>
      <origin rpy="0 0 0" xyz="0 0 0"/>
      <inertia ixx="4.6354148125e-07" ixy="0.0" ixz="0.0" iyy="4.6354148125e-07" iyz="0.0" izz="6.666664e-07"/>
    </inertial>
    <!--
		<inertial>
			<mass value="0.001"/>
			<inertia ixx="0.000000001" ixy="0.000000001" ixz="0.000000001" iyy="0.000000001" iyz="0.000000001" izz="0.000000001"/>
		</inertial>
		-->
    <collision>
      <geometry>
        <box size="0.02 0.02 0.0125"/>
      </geometry>
      <origin xyz="0 0 0"/>
    </collision>
  </link>
  <gazebo reference="RBseg1">
    <mu1>20000</mu1>
    <mu2>20000</mu2>
    <selfCollide>true</selfCollide>
    <gravity>true</gravity>
  </gazebo>
  <joint name="palm_RBseg1_joint" type="revolute">
    <axis xyz="1 0 0"/>
    <limit effort="1" lower="-0.1" upper="0.1" velocity="0.0001"/>
    <!--<dynamics damping="0.05" friction="0.0"/>-->
    <origin rpy="-0 0 3.14159" xyz="-0.05 -0.05 0"/>
    <parent link="palm"/>
    <child link="RBseg1"/>
  </joint>
  <transmission name="palm_RBseg1_trans">
    <type>transmission_interface/SimpleTransmission</type>
    <actuator name="palm_RBseg1_motor">
      <mechanicalReduction>1</mechanicalReduction>
    </actuator>
    <joint name="palm_RBseg1_joint">
      <hardwareInterface>hardware_interface/EffortJointInterface</hardwareInterface>
    </joint>
  </transmission>
  <gazebo reference="palm_RBseg1_joint">
    <mu1 value="200.0"/>
    <mu2 value="100.0"/>
    <kp value="10000000.0"/>
    <kd value="1.0"/>
    <material>Gazebo/Grey</material>
  </gazebo>
  <link name="RBseg2">
    <visual>
      <geometry>
        <box size="0.02 0.02 0.0125"/>
      </geometry>
      <origin xyz="0 0 0"/>
      <material name="white"/>
    </visual>
    <inertial>
      <mass value="0.01"/>
      <origin rpy="0 0 0" xyz="0 0 0"/>
      <inertia ixx="4.6354148125e-07" ixy="0.0" ixz="0.0" iyy="4.6354148125e-07" iyz="0.0" izz="6.666664e-07"/>
    </inertial>
    <!--
		<inertial>
			<mass value="0.001"/>
			<inertia ixx="0.000000001" ixy="0.000000001" ixz="0.000000001" iyy="0.000000001" iyz="0.000000001" izz="0.000000001"/>
		</inertial>
		-->
    <collision>
      <geometry>
        <box size="0.02 0.02 0.0125"/>
      </geometry>
      <origin xyz="0 0 0"/>
    </collision>
  </link>
  <gazebo reference="RBseg2">
    <mu1>20000</mu1>
    <mu2>20000</mu2>
    <selfCollide>true</selfCollide>
    <gravity>true</gravity>
  </gazebo>
  <joint name="RBseg1_RBseg2_joint" type="revolute">
    <axis xyz="1 0 0"/>
    <limit effort="1" lower="-0.25" upper="0.25" velocity="0.001"/>
    <dynamics damping="0.05" friction="0.0"/>
    <origin rpy="0 0 0" xyz="0 0 0.0175"/>
    <parent link="RBseg1"/>
    <child link="RBseg2"/>
  </joint>
  <gazebo reference="RBseg1_RBseg2_joint">
    <implicitSpringDamper>True</implicitSpringDamper>
  </gazebo>
  <transmission name="RBseg1_RBseg2_trans">
    <type>transmission_interface/SimpleTransmission</type>
    <actuator name="RBseg1_RBseg2_motor">
      <mechanicalReduction>1</mechanicalReduction>
    </actuator>
    <joint name="RBseg1_RBseg2_joint">
      <hardwareInterface>hardware_interface/EffortJointInterface</hardwareInterface>
    </joint>
  </transmission>
  <gazebo reference="RBseg1_RBseg2_joint">
    <mu1 value="200.0"/>
    <mu2 value="100.0"/>
    <kp value="10000000.0"/>
    <kd value="1.0"/>
    <material>Gazebo/Grey</material>
  </gazebo>
  <link name="RBseg3">
    <visual>
      <geometry>
        <box size="0.02 0.02 0.0125"/>
      </geometry>
      <origin xyz="0 0 0"/>
      <material name="white"/>
    </visual>
    <inertial>
      <mass value="0.01"/>
      <origin rpy="0 0 0" xyz="0 0 0"/>
      <inertia ixx="4.6354148125e-07" ixy="0.0" ixz="0.0" iyy="4.6354148125e-07" iyz="0.0" izz="6.666664e-07"/>
    </inertial>
    <!--
		<inertial>
			<mass value="0.001"/>
			<inertia ixx="0.000000001" ixy="0.000000001" ixz="0.000000001" iyy="0.000000001" iyz="0.000000001" izz="0.000000001"/>
		</inertial>
		-->
    <collision>
      <geometry>
        <box size="0.02 0.02 0.0125"/>
      </geometry>
      <origin xyz="0 0 0"/>
    </collision>
  </link>
  <gazebo reference="RBseg3">
    <mu1>20000</mu1>
    <mu2>20000</mu2>
    <selfCollide>true</selfCollide>
    <gravity>true</gravity>
  </gazebo>
  <joint name="RBseg2_RBseg3_joint" type="revolute">
    <axis xyz="1 0 0"/>
    <limit effort="1" lower="-0.25" upper="0.25" velocity="0.001"/>
    <dynamics damping="0.05" friction="0.0"/>
    <origin rpy="0 0 0" xyz="0 0 0.0175"/>
    <parent link="RBseg2"/>
    <child link="RBseg3"/>
  </joint>
  <gazebo reference="RBseg2_RBseg3_joint">
    <implicitSpringDamper>True</implicitSpringDamper>
  </gazebo>
  <transmission name="RBseg2_RBseg3_trans">
    <type>transmission_interface/SimpleTransmission</type>
    <actuator name="RBseg2_RBseg3_motor">
      <mechanicalReduction>1</mechanicalReduction>
    </actuator>
    <joint name="RBseg2_RBseg3_joint">
      <hardwareInterface>hardware_interface/EffortJointInterface</hardwareInterface>
    </joint>
  </transmission>
  <gazebo reference="RBseg2_RBseg3_joint">
    <mu1 value="200.0"/>
    <mu2 value="100.0"/>
    <kp value="10000000.0"/>
    <kd value="1.0"/>
    <material>Gazebo/Grey</material>
  </gazebo>
  <link name="RBseg4">
    <visual>
      <geometry>
        <box size="0.02 0.02 0.0125"/>
      </geometry>
      <origin xyz="0 0 0"/>
      <material name="white"/>
    </visual>
    <inertial>
      <mass value="0.01"/>
      <origin rpy="0 0 0" xyz="0 0 0"/>
      <inertia ixx="4.6354148125e-07" ixy="0.0" ixz="0.0" iyy="4.6354148125e-07" iyz="0.0" izz="6.666664e-07"/>
    </inertial>
    <!--
		<inertial>
			<mass value="0.001"/>
			<inertia ixx="0.000000001" ixy="0.000000001" ixz="0.000000001" iyy="0.000000001" iyz="0.000000001" izz="0.000000001"/>
		</inertial>
		-->
    <collision>
      <geometry>
        <box size="0.02 0.02 0.0125"/>
      </geometry>
      <origin xyz="0 0 0"/>
    </collision>
  </link>
  <gazebo reference="RBseg4">
    <mu1>20000</mu1>
    <mu2>20000</mu2>
    <selfCollide>true</selfCollide>
    <gravity>true</gravity>
  </gazebo>
  <joint name="RBseg3_RBseg4_joint" type="revolute">
    <axis xyz="1 0 0"/>
    <limit effort="1" lower="-0.25" upper="0.25" velocity="0.001"/>
    <dynamics damping="0.05" friction="0.0"/>
    <origin rpy="0 0 0" xyz="0 0 0.0175"/>
    <parent link="RBseg3"/>
    <child link="RBseg4"/>
  </joint>
  <gazebo reference="RBseg3_RBseg4_joint">
    <implicitSpringDamper>True</implicitSpringDamper>
  </gazebo>
  <transmission name="RBseg3_RBseg4_trans">
    <type>transmission_interface/SimpleTransmission</type>
    <actuator name="RBseg3_RBseg4_motor">
      <mechanicalReduction>1</mechanicalReduction>
    </actuator>
    <joint name="RBseg3_RBseg4_joint">
      <hardwareInterface>hardware_interface/EffortJointInterface</hardwareInterface>
    </joint>
  </transmission>
  <gazebo reference="RBseg3_RBseg4_joint">
    <mu1 value="200.0"/>
    <mu2 value="100.0"/>
    <kp value="10000000.0"/>
    <kd value="1.0"/>
    <material>Gazebo/Grey</material>
  </gazebo>
  <link name="RBseg5">
    <visual>
      <geometry>
        <box size="0.02 0.02 0.0125"/>
      </geometry>
      <origin xyz="0 0 0"/>
      <material name="white"/>
    </visual>
    <inertial>
      <mass value="0.01"/>
      <origin rpy="0 0 0" xyz="0 0 0"/>
      <inertia ixx="4.6354148125e-07" ixy="0.0" ixz="0.0" iyy="4.6354148125e-07" iyz="0.0" izz="6.666664e-07"/>
    </inertial>
    <!--
		<inertial>
			<mass value="0.001"/>
			<inertia ixx="0.000000001" ixy="0.000000001" ixz="0.000000001" iyy="0.000000001" iyz="0.000000001" izz="0.000000001"/>
		</inertial>
		-->
    <collision>
      <geometry>
        <box size="0.02 0.02 0.0125"/>
      </geometry>
      <origin xyz="0 0 0"/>
    </collision>
  </link>
  <gazebo reference="RBseg5">
    <mu1>20000</mu1>
    <mu2>20000</mu2>
    <selfCollide>true</selfCollide>
    <gravity>true</gravity>
  </gazebo>
  <joint name="RBseg4_RBseg5_joint" type="revolute">
    <axis xyz="1 0 0"/>
    <limit effort="1" lower="-0.25" upper="0.25" velocity="0.001"/>
    <dynamics damping="0.05" friction="0.0"/>
    <origin rpy="0 0 0" xyz="0 0 0.0175"/>
    <parent link="RBseg4"/>
    <child link="RBseg5"/>
  </joint>
  <gazebo reference="RBseg4_RBseg5_joint">
    <implicitSpringDamper>True</implicitSpringDamper>
  </gazebo>
  <transmission name="RBseg4_RBseg5_trans">
    <type>transmission_interface/SimpleTransmission</type>
    <actuator name="RBseg4_RBseg5_motor">
      <mechanicalReduction>1</mechanicalReduction>
    </actuator>
    <joint name="RBseg4_RBseg5_joint">
      <hardwareInterface>hardware_interface/EffortJointInterface</hardwareInterface>
    </joint>
  </transmission>
  <gazebo reference="RBseg4_RBseg5_joint">
    <mu1 value="200.0"/>
    <mu2 value="100.0"/>
    <kp value="10000000.0"/>
    <kd value="1.0"/>
    <material>Gazebo/Grey</material>
  </gazebo>
  <link name="RBseg6">
    <visual>
      <geometry>
        <box size="0.02 0.02 0.0125"/>
      </geometry>
      <origin xyz="0 0 0"/>
      <material name="white"/>
    </visual>
    <inertial>
      <mass value="0.01"/>
      <origin rpy="0 0 0" xyz="0 0 0"/>
      <inertia ixx="4.6354148125e-07" ixy="0.0" ixz="0.0" iyy="4.6354148125e-07" iyz="0.0" izz="6.666664e-07"/>
    </inertial>
    <!--
		<inertial>
			<mass value="0.001"/>
			<inertia ixx="0.000000001" ixy="0.000000001" ixz="0.000000001" iyy="0.000000001" iyz="0.000000001" izz="0.000000001"/>
		</inertial>
		-->
    <collision>
      <geometry>
        <box size="0.02 0.02 0.0125"/>
      </geometry>
      <origin xyz="0 0 0"/>
    </collision>
  </link>
  <gazebo reference="RBseg6">
    <mu1>20000</mu1>
    <mu2>20000</mu2>
    <selfCollide>true</selfCollide>
    <gravity>true</gravity>
  </gazebo>
  <joint name="RBseg5_RBseg6_joint" type="revolute">
    <axis xyz="1 0 0"/>
    <limit effort="1" lower="-0.25" upper="0.25" velocity="0.001"/>
    <dynamics damping="0.05" friction="0.0"/>
    <origin rpy="0 0 0" xyz="0 0 0.0175"/>
    <parent link="RBseg5"/>
    <child link="RBseg6"/>
  </joint>
  <gazebo reference="RBseg5_RBseg6_joint">
    <implicitSpringDamper>True</implicitSpringDamper>
  </gazebo>
  <transmission name="RBseg5_RBseg6_trans">
    <type>transmission_interface/SimpleTransmission</type>
    <actuator name="RBseg5_RBseg6_motor">
      <mechanicalReduction>1</mechanicalReduction>
    </actuator>
    <joint name="RBseg5_RBseg6_joint">
      <hardwareInterface>hardware_interface/EffortJointInterface</hardwareInterface>
    </joint>
  </transmission>
  <gazebo reference="RBseg5_RBseg6_joint">
    <mu1 value="200.0"/>
    <mu2 value="100.0"/>
    <kp value="10000000.0"/>
    <kd value="1.0"/>
    <material>Gazebo/Grey</material>
  </gazebo>
  <link name="RBseg7">
    <visual>
      <geometry>
        <box size="0.02 0.02 0.0125"/>
      </geometry>
      <origin xyz="0 0 0"/>
      <material name="white"/>
    </visual>
    <inertial>
      <mass value="0.01"/>
      <origin rpy="0 0 0" xyz="0 0 0"/>
      <inertia ixx="4.6354148125e-07" ixy="0.0" ixz="0.0" iyy="4.6354148125e-07" iyz="0.0" izz="6.666664e-07"/>
    </inertial>
    <!--
		<inertial>
			<mass value="0.001"/>
			<inertia ixx="0.000000001" ixy="0.000000001" ixz="0.000000001" iyy="0.000000001" iyz="0.000000001" izz="0.000000001"/>
		</inertial>
		-->
    <collision>
      <geometry>
        <box size="0.02 0.02 0.0125"/>
      </geometry>
      <origin xyz="0 0 0"/>
    </collision>
  </link>
  <gazebo reference="RBseg7">
    <mu1>20000</mu1>
    <mu2>20000</mu2>
    <selfCollide>true</selfCollide>
    <gravity>true</gravity>
  </gazebo>
  <joint name="RBseg6_RBseg7_joint" type="revolute">
    <axis xyz="1 0 0"/>
    <limit effort="1" lower="-0.25" upper="0.25" velocity="0.001"/>
    <dynamics damping="0.05" friction="0.0"/>
    <origin rpy="0 0 0" xyz="0 0 0.0175"/>
    <parent link="RBseg6"/>
    <child link="RBseg7"/>
  </joint>
  <gazebo reference="RBseg6_RBseg7_joint">
    <implicitSpringDamper>True</implicitSpringDamper>
  </gazebo>
  <transmission name="RBseg6_RBseg7_trans">
    <type>transmission_interface/SimpleTransmission</type>
    <actuator name="RBseg6_RBseg7_motor">
      <mechanicalReduction>1</mechanicalReduction>
    </actuator>
    <joint name="RBseg6_RBseg7_joint">
      <hardwareInterface>hardware_interface/EffortJointInterface</hardwareInterface>
    </joint>
  </transmission>
  <gazebo reference="RBseg6_RBseg7_joint">
    <mu1 value="200.0"/>
    <mu2 value="100.0"/>
    <kp value="10000000.0"/>
    <kd value="1.0"/>
    <material>Gazebo/Grey</material>
  </gazebo>
  <link name="RBseg8">
    <visual>
      <geometry>
        <box size="0.02 0.02 0.0125"/>
      </geometry>
      <origin xyz="0 0 0"/>
      <material name="white"/>
    </visual>
    <inertial>
      <mass value="0.01"/>
      <origin rpy="0 0 0" xyz="0 0 0"/>
      <inertia ixx="4.6354148125e-07" ixy="0.0" ixz="0.0" iyy="4.6354148125e-07" iyz="0.0" izz="6.666664e-07"/>
    </inertial>
    <!--
		<inertial>
			<mass value="0.001"/>
			<inertia ixx="0.000000001" ixy="0.000000001" ixz="0.000000001" iyy="0.000000001" iyz="0.000000001" izz="0.000000001"/>
		</inertial>
		-->
    <collision>
      <geometry>
        <box size="0.02 0.02 0.0125"/>
      </geometry>
      <origin xyz="0 0 0"/>
    </collision>
  </link>
  <gazebo reference="RBseg8">
    <mu1>20000</mu1>
    <mu2>20000</mu2>
    <selfCollide>true</selfCollide>
    <gravity>true</gravity>
  </gazebo>
  <joint name="RBseg7_RBseg8_joint" type="revolute">
    <axis xyz="1 0 0"/>
    <limit effort="1" lower="-0.25" upper="0.25" velocity="0.001"/>
    <dynamics damping="0.05" friction="0.0"/>
    <origin rpy="0 0 0" xyz="0 0 0.0175"/>
    <parent link="RBseg7"/>
    <child link="RBseg8"/>
  </joint>
  <gazebo reference="RBseg7_RBseg8_joint">
    <implicitSpringDamper>True</implicitSpringDamper>
  </gazebo>
  <transmission name="RBseg7_RBseg8_trans">
    <type>transmission_interface/SimpleTransmission</type>
    <actuator name="RBseg7_RBseg8_motor">
      <mechanicalReduction>1</mechanicalReduction>
    </actuator>
    <joint name="RBseg7_RBseg8_joint">
      <hardwareInterface>hardware_interface/EffortJointInterface</hardwareInterface>
    </joint>
  </transmission>
  <gazebo reference="RBseg7_RBseg8_joint">
    <mu1 value="200.0"/>
    <mu2 value="100.0"/>
    <kp value="10000000.0"/>
    <kd value="1.0"/>
    <material>Gazebo/Grey</material>
  </gazebo>
  <link name="RBseg9">
    <visual>
      <geometry>
        <box size="0.02 0.02 0.0125"/>
      </geometry>
      <origin xyz="0 0 0"/>
      <material name="white"/>
    </visual>
    <inertial>
      <mass value="0.01"/>
      <origin rpy="0 0 0" xyz="0 0 0"/>
      <inertia ixx="4.6354148125e-07" ixy="0.0" ixz="0.0" iyy="4.6354148125e-07" iyz="0.0" izz="6.666664e-07"/>
    </inertial>
    <!--
		<inertial>
			<mass value="0.001"/>
			<inertia ixx="0.000000001" ixy="0.000000001" ixz="0.000000001" iyy="0.000000001" iyz="0.000000001" izz="0.000000001"/>
		</inertial>
		-->
    <collision>
      <geometry>
        <box size="0.02 0.02 0.0125"/>
      </geometry>
      <origin xyz="0 0 0"/>
    </collision>
  </link>
  <gazebo reference="RBseg9">
    <mu1>20000</mu1>
    <mu2>20000</mu2>
    <selfCollide>true</selfCollide>
    <gravity>true</gravity>
  </gazebo>
  <joint name="RBseg8_RBseg9_joint" type="revolute">
    <axis xyz="1 0 0"/>
    <limit effort="1" lower="-0.25" upper="0.25" velocity="0.001"/>
    <dynamics damping="0.05" friction="0.0"/>
    <origin rpy="0 0 0" xyz="0 0 0.0175"/>
    <parent link="RBseg8"/>
    <child link="RBseg9"/>
  </joint>
  <gazebo reference="RBseg8_RBseg9_joint">
    <implicitSpringDamper>True</implicitSpringDamper>
  </gazebo>
  <transmission name="RBseg8_RBseg9_trans">
    <type>transmission_interface/SimpleTransmission</type>
    <actuator name="RBseg8_RBseg9_motor">
      <mechanicalReduction>1</mechanicalReduction>
    </actuator>
    <joint name="RBseg8_RBseg9_joint">
      <hardwareInterface>hardware_interface/EffortJointInterface</hardwareInterface>
    </joint>
  </transmission>
  <gazebo reference="RBseg8_RBseg9_joint">
    <mu1 value="200.0"/>
    <mu2 value="100.0"/>
    <kp value="10000000.0"/>
    <kd value="1.0"/>
    <material>Gazebo/Grey</material>
  </gazebo>
  <link name="RBseg10">
    <visual>
      <geometry>
        <box size="0.02 0.02 0.0125"/>
      </geometry>
      <origin xyz="0 0 0"/>
      <material name="white"/>
    </visual>
    <inertial>
      <mass value="0.01"/>
      <origin rpy="0 0 0" xyz="0 0 0"/>
      <inertia ixx="4.6354148125e-07" ixy="0.0" ixz="0.0" iyy="4.6354148125e-07" iyz="0.0" izz="6.666664e-07"/>
    </inertial>
    <!--
		<inertial>
			<mass value="0.001"/>
			<inertia ixx="0.000000001" ixy="0.000000001" ixz="0.000000001" iyy="0.000000001" iyz="0.000000001" izz="0.000000001"/>
		</inertial>
		-->
    <collision>
      <geometry>
        <box size="0.02 0.02 0.0125"/>
      </geometry>
      <origin xyz="0 0 0"/>
    </collision>
  </link>
  <gazebo reference="RBseg10">
    <mu1>20000</mu1>
    <mu2>20000</mu2>
    <selfCollide>true</selfCollide>
    <gravity>true</gravity>
  </gazebo>
  <joint name="RBseg9_RBseg10_joint" type="revolute">
    <axis xyz="1 0 0"/>
    <limit effort="1" lower="-0.25" upper="0.25" velocity="0.001"/>
    <dynamics damping="0.05" friction="0.0"/>
    <origin rpy="0 0 0" xyz="0 0 0.0175"/>
    <parent link="RBseg9"/>
    <child link="RBseg10"/>
  </joint>
  <gazebo reference="RBseg9_RBseg10_joint">
    <implicitSpringDamper>True</implicitSpringDamper>
  </gazebo>
  <transmission name="RBseg9_RBseg10_trans">
    <type>transmission_interface/SimpleTransmission</type>
    <actuator name="RBseg9_RBseg10_motor">
      <mechanicalReduction>1</mechanicalReduction>
    </actuator>
    <joint name="RBseg9_RBseg10_joint">
      <hardwareInterface>hardware_interface/EffortJointInterface</hardwareInterface>
    </joint>
  </transmission>
  <gazebo reference="RBseg9_RBseg10_joint">
    <mu1 value="200.0"/>
    <mu2 value="100.0"/>
    <kp value="10000000.0"/>
    <kd value="1.0"/>
    <material>Gazebo/Grey</material>
  </gazebo>
  <link name="RBseg11">
    <visual>
      <geometry>
        <box size="0.02 0.02 0.0125"/>
      </geometry>
      <origin xyz="0 0 0"/>
      <material name="white"/>
    </visual>
    <inertial>
      <mass value="0.01"/>
      <origin rpy="0 0 0" xyz="0 0 0"/>
      <inertia ixx="4.6354148125e-07" ixy="0.0" ixz="0.0" iyy="4.6354148125e-07" iyz="0.0" izz="6.666664e-07"/>
    </inertial>
    <!--
		<inertial>
			<mass value="0.001"/>
			<inertia ixx="0.000000001" ixy="0.000000001" ixz="0.000000001" iyy="0.000000001" iyz="0.000000001" izz="0.000000001"/>
		</inertial>
		-->
    <collision>
      <geometry>
        <box size="0.02 0.02 0.0125"/>
      </geometry>
      <origin xyz="0 0 0"/>
    </collision>
  </link>
  <gazebo reference="RBseg11">
    <mu1>20000</mu1>
    <mu2>20000</mu2>
    <selfCollide>true</selfCollide>
    <gravity>true</gravity>
  </gazebo>
  <joint name="RBseg10_RBseg11_joint" type="revolute">
    <axis xyz="1 0 0"/>
    <limit effort="1" lower="-0.25" upper="0.25" velocity="0.001"/>
    <dynamics damping="0.05" friction="0.0"/>
    <origin rpy="0 0 0" xyz="0 0 0.0175"/>
    <parent link="RBseg10"/>
    <child link="RBseg11"/>
  </joint>
  <gazebo reference="RBseg10_RBseg11_joint">
    <implicitSpringDamper>True</implicitSpringDamper>
  </gazebo>
  <transmission name="RBseg10_RBseg11_trans">
    <type>transmission_interface/SimpleTransmission</type>
    <actuator name="RBseg10_RBseg11_motor">
      <mechanicalReduction>1</mechanicalReduction>
    </actuator>
    <joint name="RBseg10_RBseg11_joint">
      <hardwareInterface>hardware_interface/EffortJointInterface</hardwareInterface>
    </joint>
  </transmission>
  <gazebo reference="RBseg10_RBseg11_joint">
    <mu1 value="200.0"/>
    <mu2 value="100.0"/>
    <kp value="10000000.0"/>
    <kd value="1.0"/>
    <material>Gazebo/Grey</material>
  </gazebo>
  <link name="RBseg12">
    <visual>
      <geometry>
        <box size="0.02 0.02 0.0125"/>
      </geometry>
      <origin xyz="0 0 0"/>
      <material name="white"/>
    </visual>
    <inertial>
      <mass value="0.01"/>
      <origin rpy="0 0 0" xyz="0 0 0"/>
      <inertia ixx="4.6354148125e-07" ixy="0.0" ixz="0.0" iyy="4.6354148125e-07" iyz="0.0" izz="6.666664e-07"/>
    </inertial>
    <!--
		<inertial>
			<mass value="0.001"/>
			<inertia ixx="0.000000001" ixy="0.000000001" ixz="0.000000001" iyy="0.000000001" iyz="0.000000001" izz="0.000000001"/>
		</inertial>
		-->
    <collision>
      <geometry>
        <box size="0.02 0.02 0.0125"/>
      </geometry>
      <origin xyz="0 0 0"/>
    </collision>
  </link>
  <gazebo reference="RBseg12">
    <mu1>20000</mu1>
    <mu2>20000</mu2>
    <selfCollide>true</selfCollide>
    <gravity>true</gravity>
  </gazebo>
  <joint name="RBseg11_RBseg12_joint" type="revolute">
    <axis xyz="1 0 0"/>
    <limit effort="1" lower="-0.25" upper="0.25" velocity="0.001"/>
    <dynamics damping="0.05" friction="0.0"/>
    <origin rpy="0 0 0" xyz="0 0 0.0175"/>
    <parent link="RBseg11"/>
    <child link="RBseg12"/>
  </joint>
  <gazebo reference="RBseg11_RBseg12_joint">
    <implicitSpringDamper>True</implicitSpringDamper>
  </gazebo>
  <transmission name="RBseg11_RBseg12_trans">
    <type>transmission_interface/SimpleTransmission</type>
    <actuator name="RBseg11_RBseg12_motor">
      <mechanicalReduction>1</mechanicalReduction>
    </actuator>
    <joint name="RBseg11_RBseg12_joint">
      <hardwareInterface>hardware_interface/EffortJointInterface</hardwareInterface>
    </joint>
  </transmission>
  <gazebo reference="RBseg11_RBseg12_joint">
    <mu1 value="200.0"/>
    <mu2 value="100.0"/>
    <kp value="10000000.0"/>
    <kd value="1.0"/>
    <material>Gazebo/Grey</material>
  </gazebo>
</robot>
